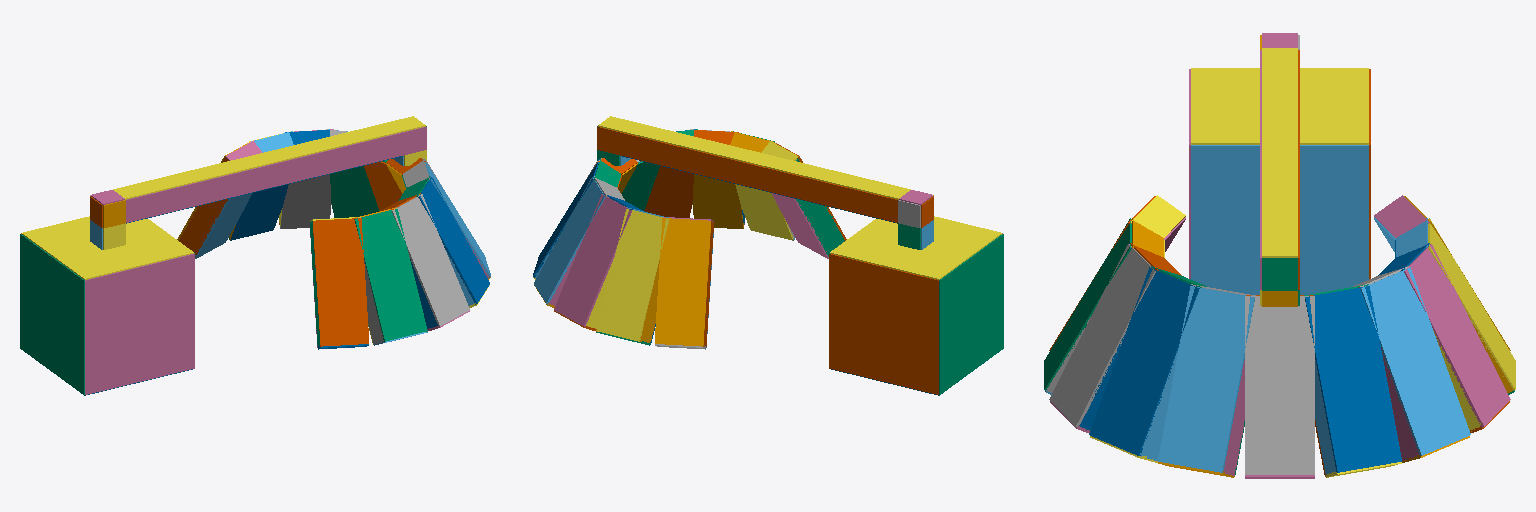
--- Render facts (derived) ---
Views: 3 orthographic renders of the robot side by side, from view 1: azimuth 30°, elevation 25°; view 2: azimuth 150°, elevation 25°; view 3: azimuth 270°, elevation 25°.
Model robot with 105 links and 104 joints (2 continuous, 102 fixed), rooted at body, posed all joints at 0.
Visible links, largest first — view 1: body_sensor_0_right, body_sensor_0_stop, arm_sensor_0_right, hand_part_11_sensor_0_left, hand_part_12_sensor_0_left, body_sensor_0_top, hand_part_13_sensor_0_left, arm_sensor_0_top, hand_part_14_sensor_0_left, hand_part_3_sensor_0_right, hand_part_2_sensor_0_right, hand_part_4_sensor_0_right (+6 smaller); view 2: body_sensor_0_left, body_sensor_0_stop, arm_sensor_0_left, hand_part_5_sensor_0_left, hand_part_4_sensor_0_left, body_sensor_0_top, hand_part_3_sensor_0_left, arm_sensor_0_top, hand_part_2_sensor_0_left, hand_part_13_sensor_0_right, hand_part_14_sensor_0_right, hand_part_12_sensor_0_right (+6 smaller); view 3: body_sensor_0_start, hand_part_0_sensor_0_left, hand_part_1_sensor_0_left, hand_part_15_sensor_0_left, body_sensor_0_top, hand_part_2_sensor_0_left, hand_part_14_sensor_0_left, arm_sensor_0_top, hand_part_3_sensor_0_left, hand_part_13_sensor_0_left, hand_part_4_sensor_0_left, hand_part_12_sensor_0_left (+13 smaller).
Boxes of the visible links, left/top/right/bottom form: body_sensor_0_right: left=85, top=254, right=194, bottom=394; body_sensor_0_stop: left=20, top=234, right=84, bottom=394; arm_sensor_0_right: left=126, top=127, right=426, bottom=222; hand_part_11_sensor_0_left: left=313, top=218, right=368, bottom=346; hand_part_12_sensor_0_left: left=354, top=209, right=427, bottom=341; body_sensor_0_top: left=22, top=216, right=193, bottom=279; hand_part_13_sensor_0_left: left=392, top=194, right=469, bottom=326; arm_sensor_0_top: left=113, top=116, right=425, bottom=199; hand_part_14_sensor_0_left: left=418, top=177, right=489, bottom=304; hand_part_3_sensor_0_right: left=280, top=174, right=331, bottom=228; hand_part_2_sensor_0_right: left=330, top=166, right=379, bottom=217; hand_part_4_sensor_0_right: left=231, top=184, right=288, bottom=240; body_sensor_0_left: left=829, top=254, right=938, bottom=394; body_sensor_0_stop: left=939, top=234, right=1003, bottom=394; arm_sensor_0_left: left=597, top=127, right=897, bottom=222; hand_part_5_sensor_0_left: left=655, top=218, right=710, bottom=346; hand_part_4_sensor_0_left: left=596, top=209, right=669, bottom=341; body_sensor_0_top: left=830, top=216, right=1001, bottom=279; hand_part_3_sensor_0_left: left=554, top=194, right=631, bottom=326; arm_sensor_0_top: left=598, top=116, right=910, bottom=199; hand_part_2_sensor_0_left: left=534, top=177, right=605, bottom=304; hand_part_13_sensor_0_right: left=692, top=174, right=743, bottom=228; hand_part_14_sensor_0_right: left=644, top=166, right=693, bottom=217; hand_part_12_sensor_0_right: left=735, top=184, right=793, bottom=240; body_sensor_0_start: left=1191, top=145, right=1368, bottom=294; hand_part_0_sensor_0_left: left=1245, top=296, right=1314, bottom=474; hand_part_1_sensor_0_left: left=1305, top=286, right=1401, bottom=472; hand_part_15_sensor_0_left: left=1158, top=286, right=1254, bottom=472; body_sensor_0_top: left=1191, top=68, right=1368, bottom=144; hand_part_2_sensor_0_left: left=1360, top=267, right=1470, bottom=455; hand_part_14_sensor_0_left: left=1089, top=267, right=1199, bottom=455; arm_sensor_0_top: left=1262, top=48, right=1297, bottom=257; hand_part_3_sensor_0_left: left=1404, top=244, right=1510, bottom=427; hand_part_13_sensor_0_left: left=1049, top=244, right=1155, bottom=426; hand_part_4_sensor_0_left: left=1428, top=218, right=1515, bottom=389; hand_part_12_sensor_0_left: left=1044, top=218, right=1131, bottom=389.
Bounding box of the posed robot: 3.8 × 2.63 × 1.42 m (x, y, z).
Geometry: primitives only (box / cylinder / sphere), no mesh files.

robot.urdf — robot:
<?xml version="1.0"?>
    <robot name="robot">


    <!-- body -->
    <link name="body">
        <inertial>
            <origin xyz="0 0 0" rpy="0 0 0"/>
            <mass value="100"/>
            <inertia ixx=".1" ixy=".1" ixz=".1" iyy=".1" iyz=".1" izz=".1"/>
        </inertial>
        <visual>
            <origin xyz="0 0 0" rpy="0 0 0"/>
            <geometry>
                <box size="1 1 1"/>
            </geometry>
        </visual>
        <collision>
            <origin xyz="0 0 0" rpy="0 0 0"/>
            <geometry>
                <box size="1 1 1"/>
            </geometry>
        </collision>
    </link>


    <!-- body_sensor_0_start -->
    <link name="body_sensor_0_start">
        <inertial>
            <origin xyz="0 0 0" rpy="0 0 0"/>
            <mass value="0"/>
            <inertia ixx=".1" ixy=".1" ixz=".1" iyy=".1" iyz=".1" izz=".1"/>
        </inertial>
        <visual>
            <origin xyz="0 0 0" rpy="0 0 0"/>
            <geometry>
                <box size="0.02 1 1"/>
            </geometry>
        </visual>
        <collision>
            <origin xyz="0 0 0" rpy="0 0 0"/>
            <geometry>
                <box size="0.02 1 1"/>
            </geometry>
        </collision>
    </link>
    <!-- Joint: body, body_sensor_0_start -->
    <joint name="body_body_sensor_0_start_joint" type="fixed">
        <parent link="body"/>
        <child link="body_sensor_0_start"/>
        <origin xyz="0.5 0 0"
                rpy="0 0 0"/>
        <axis xyz="0 0 1"/>
        
    </joint>


    <!-- body_sensor_0_stop -->
    <link name="body_sensor_0_stop">
        <inertial>
            <origin xyz="0 0 0" rpy="0 0 0"/>
            <mass value="0"/>
            <inertia ixx=".1" ixy=".1" ixz=".1" iyy=".1" iyz=".1" izz=".1"/>
        </inertial>
        <visual>
            <origin xyz="0 0 0" rpy="0 0 0"/>
            <geometry>
                <box size="0.02 1 1"/>
            </geometry>
        </visual>
        <collision>
            <origin xyz="0 0 0" rpy="0 0 0"/>
            <geometry>
                <box size="0.02 1 1"/>
            </geometry>
        </collision>
    </link>
    <!-- Joint: body, body_sensor_0_stop -->
    <joint name="body_body_sensor_0_stop_joint" type="fixed">
        <parent link="body"/>
        <child link="body_sensor_0_stop"/>
        <origin xyz="-0.5 0 0"
                rpy="0 0 0"/>
        <axis xyz="0 0 1"/>
        
    </joint>


    <!-- body_sensor_0_top -->
    <link name="body_sensor_0_top">
        <inertial>
            <origin xyz="0 0 0" rpy="0 0 0"/>
            <mass value="0"/>
            <inertia ixx=".1" ixy=".1" ixz=".1" iyy=".1" iyz=".1" izz=".1"/>
        </inertial>
        <visual>
            <origin xyz="0 0 0" rpy="0 0 0"/>
            <geometry>
                <box size="1.0 1 0.02"/>
            </geometry>
        </visual>
        <collision>
            <origin xyz="0 0 0" rpy="0 0 0"/>
            <geometry>
                <box size="1.0 1 0.02"/>
            </geometry>
        </collision>
    </link>
    <!-- Joint: body, body_sensor_0_top -->
    <joint name="body_body_sensor_0_top_joint" type="fixed">
        <parent link="body"/>
        <child link="body_sensor_0_top"/>
        <origin xyz="0 0 0.5"
                rpy="0 0 0"/>
        <axis xyz="0 0 1"/>
        
    </joint>


    <!-- body_sensor_0_bottom -->
    <link name="body_sensor_0_bottom">
        <inertial>
            <origin xyz="0 0 0" rpy="0 0 0"/>
            <mass value="0"/>
            <inertia ixx=".1" ixy=".1" ixz=".1" iyy=".1" iyz=".1" izz=".1"/>
        </inertial>
        <visual>
            <origin xyz="0 0 0" rpy="0 0 0"/>
            <geometry>
                <box size="1.0 1 0.02"/>
            </geometry>
        </visual>
        <collision>
            <origin xyz="0 0 0" rpy="0 0 0"/>
            <geometry>
                <box size="1.0 1 0.02"/>
            </geometry>
        </collision>
    </link>
    <!-- Joint: body, body_sensor_0_bottom -->
    <joint name="body_body_sensor_0_bottom_joint" type="fixed">
        <parent link="body"/>
        <child link="body_sensor_0_bottom"/>
        <origin xyz="0 0 -0.5"
                rpy="0 0 0"/>
        <axis xyz="0 0 1"/>
        
    </joint>


    <!-- body_sensor_0_left -->
    <link name="body_sensor_0_left">
        <inertial>
            <origin xyz="0 0 0" rpy="0 0 0"/>
            <mass value="0"/>
            <inertia ixx=".1" ixy=".1" ixz=".1" iyy=".1" iyz=".1" izz=".1"/>
        </inertial>
        <visual>
            <origin xyz="0 0 0" rpy="0 0 0"/>
            <geometry>
                <box size="1.0 0.02 1"/>
            </geometry>
        </visual>
        <collision>
            <origin xyz="0 0 0" rpy="0 0 0"/>
            <geometry>
                <box size="1.0 0.02 1"/>
            </geometry>
        </collision>
    </link>
    <!-- Joint: body, body_sensor_0_left -->
    <joint name="body_body_sensor_0_left_joint" type="fixed">
        <parent link="body"/>
        <child link="body_sensor_0_left"/>
        <origin xyz="0 0.5 0"
                rpy="0 0 0"/>
        <axis xyz="0 0 1"/>
        
    </joint>


    <!-- body_sensor_0_right -->
    <link name="body_sensor_0_right">
        <inertial>
            <origin xyz="0 0 0" rpy="0 0 0"/>
            <mass value="0"/>
            <inertia ixx=".1" ixy=".1" ixz=".1" iyy=".1" iyz=".1" izz=".1"/>
        </inertial>
        <visual>
            <origin xyz="0 0 0" rpy="0 0 0"/>
            <geometry>
                <box size="1.0 0.02 1"/>
            </geometry>
        </visual>
        <collision>
            <origin xyz="0 0 0" rpy="0 0 0"/>
            <geometry>
                <box size="1.0 0.02 1"/>
            </geometry>
        </collision>
    </link>
    <!-- Joint: body, body_sensor_0_right -->
    <joint name="body_body_sensor_0_right_joint" type="fixed">
        <parent link="body"/>
        <child link="body_sensor_0_right"/>
        <origin xyz="0 -0.5 0"
                rpy="0 0 0"/>
        <axis xyz="0 0 1"/>
        
    </joint>


    <!-- joint_1 -->
    <link name="joint_1">
        <inertial>
            <origin xyz="0 0 0" rpy="0 0 0"/>
            <mass value="2"/>
            <inertia ixx=".1" ixy=".1" ixz=".1" iyy=".1" iyz=".1" izz=".1"/>
        </inertial>
        <visual>
            <origin xyz="0 0 0" rpy="0 0 0"/>
            <geometry>
                <box size="0.2 0.2 0.2"/>
            </geometry>
        </visual>
        <collision>
            <origin xyz="0 0 0" rpy="0 0 0"/>
            <geometry>
                <box size="0.2 0.2 0.2"/>
            </geometry>
        </collision>
    </link>


    <!-- joint_1_sensor_0_start -->
    <link name="joint_1_sensor_0_start">
        <inertial>
            <origin xyz="0 0 0" rpy="0 0 0"/>
            <mass value="0"/>
            <inertia ixx=".1" ixy=".1" ixz=".1" iyy=".1" iyz=".1" izz=".1"/>
        </inertial>
        <visual>
            <origin xyz="0 0 0" rpy="0 0 0"/>
            <geometry>
                <box size="0.02 0.2 0.2"/>
            </geometry>
        </visual>
        <collision>
            <origin xyz="0 0 0" rpy="0 0 0"/>
            <geometry>
                <box size="0.02 0.2 0.2"/>
            </geometry>
        </collision>
    </link>
    <!-- Joint: joint_1, joint_1_sensor_0_start -->
    <joint name="joint_1_joint_1_sensor_0_start_joint" type="fixed">
        <parent link="joint_1"/>
        <child link="joint_1_sensor_0_start"/>
        <origin xyz="0.1 0 0"
                rpy="0 0 0"/>
        <axis xyz="0 0 1"/>
        
    </joint>


    <!-- joint_1_sensor_0_stop -->
    <link name="joint_1_sensor_0_stop">
        <inertial>
            <origin xyz="0 0 0" rpy="0 0 0"/>
            <mass value="0"/>
            <inertia ixx=".1" ixy=".1" ixz=".1" iyy=".1" iyz=".1" izz=".1"/>
        </inertial>
        <visual>
            <origin xyz="0 0 0" rpy="0 0 0"/>
            <geometry>
                <box size="0.02 0.2 0.2"/>
            </geometry>
        </visual>
        <collision>
            <origin xyz="0 0 0" rpy="0 0 0"/>
            <geometry>
                <box size="0.02 0.2 0.2"/>
            </geometry>
        </collision>
    </link>
    <!-- Joint: joint_1, joint_1_sensor_0_stop -->
    <joint name="joint_1_joint_1_sensor_0_stop_joint" type="fixed">
        <parent link="joint_1"/>
        <child link="joint_1_sensor_0_stop"/>
        <origin xyz="-0.1 0 0"
                rpy="0 0 0"/>
        <axis xyz="0 0 1"/>
        
    </joint>


    <!-- joint_1_sensor_0_left -->
    <link name="joint_1_sensor_0_left">
        <inertial>
            <origin xyz="0 0 0" rpy="0 0 0"/>
            <mass value="0"/>
            <inertia ixx=".1" ixy=".1" ixz=".1" iyy=".1" iyz=".1" izz=".1"/>
        </inertial>
        <visual>
            <origin xyz="0 0 0" rpy="0 0 0"/>
            <geometry>
                <box size="0.2 0.02 0.2"/>
            </geometry>
        </visual>
        <collision>
            <origin xyz="0 0 0" rpy="0 0 0"/>
            <geometry>
                <box size="0.2 0.02 0.2"/>
            </geometry>
        </collision>
    </link>
    <!-- Joint: joint_1, joint_1_sensor_0_left -->
    <joint name="joint_1_joint_1_sensor_0_left_joint" type="fixed">
        <parent link="joint_1"/>
        <child link="joint_1_sensor_0_left"/>
        <origin xyz="0 0.1 0"
                rpy="0 0 0"/>
        <axis xyz="0 0 1"/>
        
    </joint>


    <!-- joint_1_sensor_0_right -->
    <link name="joint_1_sensor_0_right">
        <inertial>
            <origin xyz="0 0 0" rpy="0 0 0"/>
            <mass value="0"/>
            <inertia ixx=".1" ixy=".1" ixz=".1" iyy=".1" iyz=".1" izz=".1"/>
        </inertial>
        <visual>
            <origin xyz="0 0 0" rpy="0 0 0"/>
            <geometry>
                <box size="0.2 0.02 0.2"/>
            </geometry>
        </visual>
        <collision>
            <origin xyz="0 0 0" rpy="0 0 0"/>
            <geometry>
                <box size="0.2 0.02 0.2"/>
            </geometry>
        </collision>
    </link>
    <!-- Joint: joint_1, joint_1_sensor_0_right -->
    <joint name="joint_1_joint_1_sensor_0_right_joint" type="fixed">
        <parent link="joint_1"/>
        <child link="joint_1_sensor_0_right"/>
        <origin xyz="0 -0.1 0"
                rpy="0 0 0"/>
        <axis xyz="0 0 1"/>
        
    </joint>
    <!-- Joint: body, joint_1 -->
    <joint name="body_joint_1_joint" type="continuous">
        <parent link="body"/>
        <child link="joint_1"/>
        <origin xyz="0 0 0.6"
                rpy="0 0 0"/>
        <axis xyz="0 0 1"/>
        <limit lower="0" upper="0" effort="0" velocity="0"/>
    </joint>


    <!-- joint_2 -->
    <link name="joint_2">
        <inertial>
            <origin xyz="0 0 0" rpy="0 0 0"/>
            <mass value="2"/>
            <inertia ixx=".1" ixy=".1" ixz=".1" iyy=".1" iyz=".1" izz=".1"/>
        </inertial>
        <visual>
            <origin xyz="0 0 0" rpy="0 0 0"/>
            <geometry>
                <box size="0.2 0.2 0.2"/>
            </geometry>
        </visual>
        <collision>
            <origin xyz="0 0 0" rpy="0 0 0"/>
            <geometry>
                <box size="0.2 0.2 0.2"/>
            </geometry>
        </collision>
    </link>


    <!-- joint_2_sensor_0_stop -->
    <link name="joint_2_sensor_0_stop">
        <inertial>
            <origin xyz="0 0 0" rpy="0 0 0"/>
            <mass value="0"/>
            <inertia ixx=".1" ixy=".1" ixz=".1" iyy=".1" iyz=".1" izz=".1"/>
        </inertial>
        <visual>
            <origin xyz="0 0 0" rpy="0 0 0"/>
            <geometry>
                <box size="0.02 0.2 0.2"/>
            </geometry>
        </visual>
        <collision>
            <origin xyz="0 0 0" rpy="0 0 0"/>
            <geometry>
                <box size="0.02 0.2 0.2"/>
            </geometry>
        </collision>
    </link>
    <!-- Joint: joint_2, joint_2_sensor_0_stop -->
    <joint name="joint_2_joint_2_sensor_0_stop_joint" type="fixed">
        <parent link="joint_2"/>
        <child link="joint_2_sensor_0_stop"/>
        <origin xyz="-0.1 0 0"
                rpy="0 0 0"/>
        <axis xyz="0 1 0"/>
        
    </joint>


    <!-- joint_2_sensor_0_top -->
    <link name="joint_2_sensor_0_top">
        <inertial>
            <origin xyz="0 0 0" rpy="0 0 0"/>
            <mass value="0"/>
            <inertia ixx=".1" ixy=".1" ixz=".1" iyy=".1" iyz=".1" izz=".1"/>
        </inertial>
        <visual>
            <origin xyz="0 0 0" rpy="0 0 0"/>
            <geometry>
                <box size="0.2 0.2 0.02"/>
            </geometry>
        </visual>
        <collision>
            <origin xyz="0 0 0" rpy="0 0 0"/>
            <geometry>
                <box size="0.2 0.2 0.02"/>
            </geometry>
        </collision>
    </link>
    <!-- Joint: joint_2, joint_2_sensor_0_top -->
    <joint name="joint_2_joint_2_sensor_0_top_joint" type="fixed">
        <parent link="joint_2"/>
        <child link="joint_2_sensor_0_top"/>
        <origin xyz="0 0 0.1"
                rpy="0 0 0"/>
        <axis xyz="0 1 0"/>
        
    </joint>


    <!-- joint_2_sensor_0_left -->
    <link name="joint_2_sensor_0_left">
        <inertial>
            <origin xyz="0 0 0" rpy="0 0 0"/>
            <mass value="0"/>
            <inertia ixx=".1" ixy=".1" ixz=".1" iyy=".1" iyz=".1" izz=".1"/>
        </inertial>
        <visual>
            <origin xyz="0 0 0" rpy="0 0 0"/>
            <geometry>
                <box size="0.2 0.02 0.2"/>
            </geometry>
        </visual>
        <collision>
            <origin xyz="0 0 0" rpy="0 0 0"/>
            <geometry>
                <box size="0.2 0.02 0.2"/>
            </geometry>
        </collision>
    </link>
    <!-- Joint: joint_2, joint_2_sensor_0_left -->
    <joint name="joint_2_joint_2_sensor_0_left_joint" type="fixed">
        <parent link="joint_2"/>
        <child link="joint_2_sensor_0_left"/>
        <origin xyz="0 0.1 0"
                rpy="0 0 0"/>
        <axis xyz="0 1 0"/>
        
    </joint>


    <!-- joint_2_sensor_0_right -->
    <link name="joint_2_sensor_0_right">
        <inertial>
            <origin xyz="0 0 0" rpy="0 0 0"/>
            <mass value="0"/>
            <inertia ixx=".1" ixy=".1" ixz=".1" iyy=".1" iyz=".1" izz=".1"/>
        </inertial>
        <visual>
            <origin xyz="0 0 0" rpy="0 0 0"/>
            <geometry>
                <box size="0.2 0.02 0.2"/>
            </geometry>
        </visual>
        <collision>
            <origin xyz="0 0 0" rpy="0 0 0"/>
            <geometry>
                <box size="0.2 0.02 0.2"/>
            </geometry>
        </collision>
    </link>
    <!-- Joint: joint_2, joint_2_sensor_0_right -->
    <joint name="joint_2_joint_2_sensor_0_right_joint" type="fixed">
        <parent link="joint_2"/>
        <child link="joint_2_sensor_0_right"/>
        <origin xyz="0 -0.1 0"
                rpy="0 0 0"/>
        <axis xyz="0 1 0"/>
        
    </joint>
    <!-- Joint: joint_1, joint_2 -->
    <joint name="joint_1_joint_2_joint" type="continuous">
        <parent link="joint_1"/>
        <child link="joint_2"/>
        <origin xyz="0 0 0.2"
                rpy="0 0 0"/>
        <axis xyz="0 1 0"/>
        <limit lower="0" upper="0" effort="0" velocity="0"/>
    </joint>


    <!-- arm -->
    <link name="arm">
        <inertial>
            <origin xyz="0 0 0" rpy="0 0 0"/>
            <mass value="2"/>
            <inertia ixx=".1" ixy=".1" ixz=".1" iyy=".1" iyz=".1" izz=".1"/>
        </inertial>
        <visual>
            <origin xyz="0 0 0" rpy="0 0 0"/>
            <geometry>
                <box size="2.75 0.2 0.2"/>
            </geometry>
        </visual>
        <collision>
            <origin xyz="0 0 0" rpy="0 0 0"/>
            <geometry>
                <box size="2.75 0.2 0.2"/>
            </geometry>
        </collision>
    </link>


    <!-- arm_sensor_0_start -->
    <link name="arm_sensor_0_start">
        <inertial>
            <origin xyz="0 0 0" rpy="0 0 0"/>
            <mass value="0"/>
            <inertia ixx=".1" ixy=".1" ixz=".1" iyy=".1" iyz=".1" izz=".1"/>
        </inertial>
        <visual>
            <origin xyz="0 0 0" rpy="0 0 0"/>
            <geometry>
                <box size="0.02 0.2 0.2"/>
            </geometry>
        </visual>
        <collision>
            <origin xyz="0 0 0" rpy="0 0 0"/>
            <geometry>
                <box size="0.02 0.2 0.2"/>
            </geometry>
        </collision>
    </link>
    <!-- Joint: arm, arm_sensor_0_start -->
    <joint name="arm_arm_sensor_0_start_joint" type="fixed">
        <parent link="arm"/>
        <child link="arm_sensor_0_start"/>
        <origin xyz="1.375 0 0"
                rpy="0 0 0"/>
        <axis xyz="0 1 0"/>
        
    </joint>


    <!-- arm_sensor_0_top -->
    <link name="arm_sensor_0_top">
        <inertial>
            <origin xyz="0 0 0" rpy="0 0 0"/>
            <mass value="0"/>
            <inertia ixx=".1" ixy=".1" ixz=".1" iyy=".1" iyz=".1" izz=".1"/>
        </inertial>
        <visual>
            <origin xyz="0 0 0" rpy="0 0 0"/>
            <geometry>
                <box size="2.75 0.2 0.02"/>
            </geometry>
        </visual>
        <collision>
            <origin xyz="0 0 0" rpy="0 0 0"/>
            <geometry>
                <box size="2.75 0.2 0.02"/>
            </geometry>
        </collision>
    </link>
    <!-- Joint: arm, arm_sensor_0_top -->
    <joint name="arm_arm_sensor_0_top_joint" type="fixed">
        <parent link="arm"/>
        <child link="arm_sensor_0_top"/>
        <origin xyz="0 0 0.1"
                rpy="0 0 0"/>
        <axis xyz="0 1 0"/>
        
    </joint>


    <!-- arm_sensor_0_bottom -->
    <link name="arm_sensor_0_bottom">
        <inertial>
            <origin xyz="0 0 0" rpy="0 0 0"/>
            <mass value="0"/>
            <inertia ixx=".1" ixy=".1" ixz=".1" iyy=".1" iyz=".1" izz=".1"/>
        </inertial>
        <visual>
            <origin xyz="0 0 0" rpy="0 0 0"/>
            <geometry>
                <box size="2.75 0.2 0.02"/>
            </geometry>
        </visual>
        <collision>
            <origin xyz="0 0 0" rpy="0 0 0"/>
            <geometry>
                <box size="2.75 0.2 0.02"/>
            </geometry>
        </collision>
    </link>
    <!-- Joint: arm, arm_sensor_0_bottom -->
    <joint name="arm_arm_sensor_0_bottom_joint" type="fixed">
        <parent link="arm"/>
        <child link="arm_sensor_0_bottom"/>
        <origin xyz="0 0 -0.1"
                rpy="0 0 0"/>
        <axis xyz="0 1 0"/>
        
    </joint>


    <!-- arm_sensor_0_left -->
    <link name="arm_sensor_0_left">
        <inertial>
            <origin xyz="0 0 0" rpy="0 0 0"/>
            <mass value="0"/>
            <inertia ixx=".1" ixy=".1" ixz=".1" iyy=".1" iyz=".1" izz=".1"/>
        </inertial>
        <visual>
            <origin xyz="0 0 0" rpy="0 0 0"/>
            <geometry>
                <box size="2.75 0.02 0.2"/>
            </geometry>
        </visual>
        <collision>
            <origin xyz="0 0 0" rpy="0 0 0"/>
            <geometry>
                <box size="2.75 0.02 0.2"/>
            </geometry>
        </collision>
    </link>
    <!-- Joint: arm, arm_sensor_0_left -->
    <joint name="arm_arm_sensor_0_left_joint" type="fixed">
        <parent link="arm"/>
        <child link="arm_sensor_0_left"/>
        <origin xyz="0 0.1 0"
                rpy="0 0 0"/>
        <axis xyz="0 1 0"/>
        
    </joint>


    <!-- arm_sensor_0_right -->
    <link name="arm_sensor_0_right">
        <inertial>
            <origin xyz="0 0 0" rpy="0 0 0"/>
            <mass value="0"/>
            <inertia ixx=".1" ixy=".1" ixz=".1" iyy=".1" iyz=".1" izz=".1"/>
        </inertial>
        <visual>
            <origin xyz="0 0 0" rpy="0 0 0"/>
            <geometry>
                <box size="2.75 0.02 0.2"/>
            </geometry>
        </visual>
        <collision>
            <origin xyz="0 0 0" rpy="0 0 0"/>
            <geometry>
                <box size="2.75 0.02 0.2"/>
            </geometry>
        </collision>
    </link>
    <!-- Joint: arm, arm_sensor_0_right -->
    <joint name="arm_arm_sensor_0_right_joint" type="fixed">
        <parent link="arm"/>
        <child link="arm_sensor_0_right"/>
        <origin xyz="0 -0.1 0"
                rpy="0 0 0"/>
        <axis xyz="0 1 0"/>
        
    </joint>
    <!-- Joint: joint_2, arm -->
    <joint name="joint_2_arm_joint" type="fixed">
        <parent link="joint_2"/>
        <child link="arm"/>
        <origin xyz="1.475 0 0"
                rpy="0 0 0"/>
        <axis xyz="0 1 0"/>
        
    </joint>


    <!-- wrist -->
    <link name="wrist">
        <inertial>
            <origin xyz="0 0 0" rpy="0 0 0"/>
            <mass value="2"/>
            <inertia ixx=".1" ixy=".1" ixz=".1" iyy=".1" iyz=".1" izz=".1"/>
        </inertial>
        <visual>
            <origin xyz="0 0 0" rpy="0 0 0"/>
            <geometry>
                <box size="0.2 0.2 0.1"/>
            </geometry>
        </visual>
        <collision>
            <origin xyz="0 0 0" rpy="0 0 0"/>
            <geometry>
                <box size="0.2 0.2 0.1"/>
            </geometry>
        </collision>
    </link>


    <!-- wrist_sensor_0_start -->
    <link name="wrist_sensor_0_start">
        <inertial>
            <origin xyz="0 0 0" rpy="0 0 0"/>
            <mass value="0"/>
            <inertia ixx=".1" ixy=".1" ixz=".1" iyy=".1" iyz=".1" izz=".1"/>
        </inertial>
        <visual>
            <origin xyz="0 0 0" rpy="0 0 0"/>
            <geometry>
                <box size="0.02 0.2 0.1"/>
            </geometry>
        </visual>
        <collision>
            <origin xyz="0 0 0" rpy="0 0 0"/>
            <geometry>
                <box size="0.02 0.2 0.1"/>
            </geometry>
        </collision>
    </link>
    <!-- Joint: wrist, wrist_sensor_0_start -->
    <joint name="wrist_wrist_sensor_0_start_joint" type="fixed">
        <parent link="wrist"/>
        <child link="wrist_sensor_0_start"/>
        <origin xyz="0.1 0 0"
                rpy="0 0 0"/>
        <axis xyz="0 1 0"/>
        
    </joint>


    <!-- wrist_sensor_0_stop -->
    <link name="wrist_sensor_0_stop">
        <inertial>
            <origin xyz="0 0 0" rpy="0 0 0"/>
            <mass value="0"/>
            <inertia ixx=".1" ixy=".1" ixz=".1" iyy=".1" iyz=".1" izz=".1"/>
        </inertial>
        <visual>
            <origin xyz="0 0 0" rpy="0 0 0"/>
            <geometry>
                <box size="0.02 0.2 0.1"/>
            </geometry>
        </visual>
        <collision>
            <origin xyz="0 0 0" rpy="0 0 0"/>
            <geometry>
                <box size="0.02 0.2 0.1"/>
            </geometry>
        </collision>
    </link>
    <!-- Joint: wrist, wrist_sensor_0_stop -->
    <joint name="wrist_wrist_sensor_0_stop_joint" type="fixed">
        <parent link="wrist"/>
        <child link="wrist_sensor_0_stop"/>
        <origin xyz="-0.1 0 0"
                rpy="0 0 0"/>
        <axis xyz="0 1 0"/>
        
    </joint>


    <!-- wrist_sensor_0_left -->
    <link name="wrist_sensor_0_left">
        <inertial>
            <origin xyz="0 0 0" rpy="0 0 0"/>
            <mass value="0"/>
            <inertia ixx=".1" ixy=".1" ixz=".1" iyy=".1" iyz=".1" izz=".1"/>
        </inertial>
        <visual>
            <origin xyz="0 0 0" rpy="0 0 0"/>
            <geometry>
                <box size="0.2 0.02 0.1"/>
            </geometry>
        </visual>
        <collision>
            <origin xyz="0 0 0" rpy="0 0 0"/>
            <geometry>
                <box size="0.2 0.02 0.1"/>
            </geometry>
        </collision>
    </link>
    <!-- Joint: wrist, wrist_sensor_0_left -->
    <joint name="wrist_wrist_sensor_0_left_joint" type="fixed">
        <parent link="wrist"/>
        <child link="wrist_sensor_0_left"/>
        <origin xyz="0 0.1 0"
                rpy="0 0 0"/>
        <axis xyz="0 1 0"/>
        
    </joint>


    <!-- wrist_sensor_0_right -->
    <link name="wrist_sensor_0_right">
        <inertial>
            <origin xyz="0 0 0" rpy="0 0 0"/>
            <mass value="0"/>
            <inertia ixx=".1" ixy=".1" ixz=".1" iyy=".1" iyz=".1" izz=".1"/>
        </inertial>
        <visual>
            <origin xyz="0 0 0" rpy="0 0 0"/>
            <geometry>
                <box size="0.2 0.02 0.1"/>
            </geometry>
        </visual>
        <collision>
            <origin xyz="0 0 0" rpy="0 0 0"/>
            <geometry>
                <box size="0.2 0.02 0.1"/>
            </geometry>
        </collision>
    </link>
    <!-- Joint: wrist, wrist_sensor_0_right -->
    <joint name="wrist_wrist_sensor_0_right_joint" type="fixed">
        <parent link="wrist"/>
        <child link="wrist_sensor_0_right"/>
        <origin xyz="0 -0.1 0"
                rpy="0 0 0"/>
        <axis xyz="0 1 0"/>
        
    </joint>
    <!-- Joint: arm, wrist -->
    <joint name="arm_wrist_joint" type="fixed">
        <parent link="arm"/>
        <child link="wrist"/>
        <origin xyz="1.275 0 -0.15000000000000002"
                rpy="0 0 0"/>
        <axis xyz="0 1 0"/>
        
    </joint>


    <!-- hand_part_0 -->
    <link name="hand_part_0">
        <inertial>
            <origin xyz="0 0 0" rpy="0 0 0"/>
            <mass value="2"/>
            <inertia ixx=".1" ixy=".1" ixz=".1" iyy=".1" iyz=".1" izz=".1"/>
        </inertial>
        <visual>
            <origin xyz="0 0 0" rpy="0 0 0"/>
            <geometry>
                <box size="0.3901806440322565 0.2 1"/>
            </geometry>
        </visual>
        <collision>
            <origin xyz="0 0 0" rpy="0 0 0"/>
            <geometry>
                <box size="0.3901806440322565 0.2 1"/>
            </geometry>
        </collision>
    </link>


    <!-- hand_part_0_sensor_0_top -->
    <link name="hand_part_0_sensor_0_top">
        <inertial>
            <origin xyz="0 0 0" rpy="0 0 0"/>
            <mass value="0"/>
            <inertia ixx=".1" ixy=".1" ixz=".1" iyy=".1" iyz=".1" izz=".1"/>
        </inertial>
        <visual>
            <origin xyz="0 0 0" rpy="0 0 0"/>
            <geometry>
                <box size="0.3901806440322565 0.2 0.02"/>
            </geometry>
        </visual>
        <collision>
            <origin xyz="0 0 0" rpy="0 0 0"/>
            <geometry>
                <box size="0.3901806440322565 0.2 0.02"/>
            </geometry>
        </collision>
    </link>
    <!-- Joint: hand_part_0, hand_part_0_sensor_0_top -->
    <joint name="hand_part_0_hand_part_0_sensor_0_top_joint" type="fixed">
        <parent link="hand_part_0"/>
        <child link="hand_part_0_sensor_0_top"/>
        <origin xyz="0 0 0.5"
                rpy="0 0 0"/>
        <axis xyz="0 1 0"/>
        
    </joint>


    <!-- hand_part_0_sensor_0_bottom -->
    <link name="hand_part_0_sensor_0_bottom">
        <inertial>
            <origin xyz="0 0 0" rpy="0 0 0"/>
            <mass value="0"/>
            <inertia ixx=".1" ixy=".1" ixz=".1" iyy=".1" iyz=".1" izz=".1"/>
        </inertial>
        <visual>
            <origin xyz="0 0 0" rpy="0 0 0"/>
            <geometry>
                <box size="0.3901806440322565 0.2 0.02"/>
            </geometry>
        </visual>
        <collision>
            <origin xyz="0 0 0" rpy="0 0 0"/>
            <geometry>
                <box size="0.3901806440322565 0.2 0.02"/>
            </geometry>
        </collision>
    </link>
    <!-- Joint: hand_part_0, hand_part_0_sensor_0_bottom -->
    <joint name="hand_part_0_hand_part_0_sensor_0_bottom_joint" type="fixed">
        <parent link="hand_part_0"/>
        <child link="hand_part_0_sensor_0_bottom"/>
        <origin xyz="0 0 -0.5"
                rpy="0 0 0"/>
        <axis xyz="0 1 0"/>
        
    </joint>


    <!-- hand_part_0_sensor_0_left -->
    <link name="hand_part_0_sensor_0_left">
        <inertial>
            <origin xyz="0 0 0" rpy="0 0 0"/>
            <mass value="0"/>
            <inertia ixx=".1" ixy=".1" ixz=".1" iyy=".1" iyz=".1" izz=".1"/>
        </inertial>
        <visual>
            <origin xyz="0 0 0" rpy="0 0 0"/>
            <geometry>
                <box size="0.3901806440322565 0.02 1"/>
            </geometry>
        </visual>
        <collision>
            <origin xyz="0 0 0" rpy="0 0 0"/>
            <geometry>
                <box size="0.3901806440322565 0.02 1"/>
            </geometry>
        </collision>
    </link>
    <!-- Joint: hand_part_0, hand_part_0_sensor_0_left -->
    <joint name="hand_part_0_hand_part_0_sensor_0_left_joint" type="fixed">
        <parent link="hand_part_0"/>
        <child link="hand_part_0_sensor_0_left"/>
        <origin xyz="0 0.1 0"
                rpy="0 0 0"/>
        <axis xyz="0 1 0"/>
        
    </joint>


    <!-- hand_part_0_sensor_0_right -->
    <link name="hand_part_0_sensor_0_right">
        <inertial>
            <origin xyz="0 0 0" rpy="0 0 0"/>
            <mass value="0"/>
            <inertia ixx=".1" ixy=".1" ixz=".1" iyy=".1" iyz=".1" izz=".1"/>
        </inertial>
        <visual>
            <origin xyz="0 0 0" rpy="0 0 0"/>
            <geometry>
                <box size="0.3901806440322565 0.02 1"/>
            </geometry>
        </visual>
        <collision>
            <origin xyz="0 0 0" rpy="0 0 0"/>
            <geometry>
                <box size="0.3901806440322565 0.02 1"/>
            </geometry>
        </collision>
    </link>
    <!-- Joint: hand_part_0, hand_part_0_sensor_0_right -->
    <joint name="hand_part_0_hand_part_0_sensor_0_right_joint" type="fixed">
        <parent link="hand_part_0"/>
        <child link="hand_part_0_sensor_0_right"/>
        <origin xyz="0 -0.1 0"
                rpy="0 0 0"/>
        <axis xyz="0 1 0"/>
        
    </joint>
    <!-- Joint: wrist, hand_part_0 -->
    <joint name="wrist_hand_part_0_joint" type="fixed">
        <parent link="wrist"/>
        <child link="hand_part_0"/>
        <origin xyz="0.2 0.0 -0.5"
                rpy="0.5 0 -1.5707963267948966"/>
        <axis xyz="0 1 0"/>
        
    </joint>


    <!-- hand_part_1 -->
    <link name="hand_part_1">
        <inertial>
            <origin xyz="0 0 0" rpy="0 0 0"/>
            <mass value="2"/>
            <inertia ixx=".1" ixy=".1" ixz=".1" iyy=".1" iyz=".1" izz=".1"/>
        </inertial>
        <visual>
            <origin xyz="0 0 0" rpy="0 0 0"/>
            <geometry>
                <box size="0.3901806440322565 0.2 1"/>
            </geometry>
        </visual>
        <collision>
            <origin xyz="0 0 0" rpy="0 0 0"/>
            <geometry>
                <box size="0.3901806440322565 0.2 1"/>
            </geometry>
        </collision>
    </link>


    <!-- hand_part_1_sensor_0_top -->
    <link name="hand_part_1_sensor_0_top">
        <inertial>
            <origin xyz="0 0 0" rpy="0 0 0"/>
            <mass value="0"/>
            <inertia ixx=".1" ixy=".1" ixz=".1" iyy=".1" iyz=".1" izz=".1"/>
        </inertial>
        <visual>
            <origin xyz="0 0 0" rpy="0 0 0"/>
            <geometry>
                <box size="0.3901806440322565 0.2 0.02"/>
            </geometry>
        </visual>
        <collision>
            <origin xyz="0 0 0" rpy="0 0 0"/>
            <geometry>
                <box size="0.3901806440322565 0.2 0.02"/>
            </geometry>
        </collision>
    </link>
    <!-- Joint: hand_part_1, hand_part_1_sensor_0_top -->
    <joint name="hand_part_1_hand_part_1_sensor_0_top_joint" type="fixed">
        <parent link="hand_part_1"/>
        <child link="hand_part_1_sensor_0_top"/>
        <origin xyz="0 0 0.5"
                rpy="0 0 0"/>
        <axis xyz="0 1 0"/>
        
    </joint>


    <!-- hand_part_1_sensor_0_bottom -->
    <link name="hand_part_1_sensor_0_bottom">
        <inertial>
            <origin xyz="0 0 0" rpy="0 0 0"/>
            <mass value="0"/>
            <inertia ixx=".1" ixy=".1" ixz=".1" iyy=".1" iyz=".1" izz=".1"/>
        </inertial>
        <visual>
            <origin xyz="0 0 0" rpy="0 0 0"/>
            <geometry>
                <box size="0.3901806440322565 0.2 0.02"/>
            </geometry>
        </visual>
        <collision>
            <origin xyz="0 0 0" rpy="0 0 0"/>
            <geometry>
                <box size="0.3901806440322565 0.2 0.02"/>
            </geometry>
        </collision>
    </link>
    <!-- Joint: hand_part_1, hand_part_1_sensor_0_bottom -->
    <joint name="hand_part_1_hand_part_1_sensor_0_bottom_joint" type="fixed">
        <parent link="hand_part_1"/>
        <child link="hand_part_1_sensor_0_bottom"/>
        <origin xyz="0 0 -0.5"
                rpy="0 0 0"/>
        <axis xyz="0 1 0"/>
        
    </joint>


    <!-- hand_part_1_sensor_0_left -->
    <link name="hand_part_1_sensor_0_left">
        <inertial>
            <origin xyz="0 0 0" rpy="0 0 0"/>
            <mass value="0"/>
            <inertia ixx=".1" ixy=".1" ixz=".1" iyy=".1" iyz=".1" izz=".1"/>
        </inertial>
        <visual>
            <origin xyz="0 0 0" rpy="0 0 0"/>
            <geometry>
                <box size="0.3901806440322565 0.02 1"/>
            </geometry>
        </visual>
        <collision>
            <origin xyz="0 0 0" rpy="0 0 0"/>
            <geometry>
                <box size="0.3901806440322565 0.02 1"/>
            </geometry>
        </collision>
    </link>
    <!-- Joint: hand_part_1, hand_part_1_sensor_0_left -->
    <joint name="hand_part_1_hand_part_1_sensor_0_left_joint" type="fixed">
        <parent link="hand_part_1"/>
        <child link="hand_part_1_sensor_0_left"/>
        <origin xyz="0 0.1 0"
                rpy="0 0 0"/>
        <axis xyz="0 1 0"/>
        
    </joint>


    <!-- hand_part_1_sensor_0_right -->
    <link name="hand_part_1_sensor_0_right">
        <inertial>
            <origin xyz="0 0 0" rpy="0 0 0"/>
            <mass value="0"/>
            <inertia ixx=".1" ixy=".1" ixz=".1" iyy=".1" iyz=".1" izz=".1"/>
        </inertial>
        <visual>
            <origin xyz="0 0 0" rpy="0 0 0"/>
            <geometry>
                <box size="0.3901806440322565 0.02 1"/>
            </geometry>
        </visual>
        <collision>
            <origin xyz="0 0 0" rpy="0 0 0"/>
            <geometry>
                <box size="0.3901806440322565 0.02 1"/>
            </geometry>
        </collision>
    </link>
    <!-- Joint: hand_part_1, hand_part_1_sensor_0_right -->
    <joint name="hand_part_1_hand_part_1_sensor_0_right_joint" type="fixed">
        <parent link="hand_part_1"/>
        <child link="hand_part_1_sensor_0_right"/>
        <origin xyz="0 -0.1 0"
                rpy="0 0 0"/>
        <axis xyz="0 1 0"/>
        
    </joint>
    <!-- Joint: wrist, hand_part_1 -->
    <joint name="wrist_hand_part_1_joint" type="fixed">
        <parent link="wrist"/>
        <child link="hand_part_1"/>
        <origin xyz="0.1253421659496574 0.3753302775178652 -0.5"
                rpy="0.5 0 -1.1780972450961724"/>
        <axis xyz="0 1 0"/>
        
    </joint>


    <!-- hand_part_2 -->
    <link name="hand_part_2">
        <inertial>
            <origin xyz="0 0 0" rpy="0 0 0"/>
            <mass value="2"/>
            <inertia ixx=".1" ixy=".1" ixz=".1" iyy=".1" iyz=".1" izz=".1"/>
        </inertial>
        <visual>
            <origin xyz="0 0 0" rpy="0 0 0"/>
            <geometry>
                <box size="0.3901806440322565 0.2 1"/>
            </geometry>
        </visual>
        <collision>
            <origin xyz="0 0 0" rpy="0 0 0"/>
            <geometry>
                <box size="0.3901806440322565 0.2 1"/>
            </geometry>
        </collision>
    </link>


    <!-- hand_part_2_sensor_0_top -->
    <link name="hand_part_2_sensor_0_top">
        <inertial>
            <origin xyz="0 0 0" rpy="0 0 0"/>
            <mass value="0"/>
            <inertia ixx=".1" ixy=".1" ixz=".1" iyy=".1" iyz=".1" izz=".1"/>
        </inertial>
        <visual>
            <origin xyz="0 0 0" rpy="0 0 0"/>
            <geometry>
                <box size="0.3901806440322565 0.2 0.02"/>
            </geometry>
        </visual>
        <collision>
            <origin xyz="0 0 0" rpy="0 0 0"/>
            <geometry>
                <box size="0.3901806440322565 0.2 0.02"/>
            </geometry>
        </collision>
    </link>
    <!-- Joint: hand_part_2, hand_part_2_sensor_0_top -->
    <joint name="hand_part_2_hand_part_2_sensor_0_top_joint" type="fixed">
        <parent link="hand_part_2"/>
        <child link="hand_part_2_sensor_0_top"/>
        <origin xyz="0 0 0.5"
                rpy="0 0 0"/>
        <axis xyz="0 1 0"/>
        
    </joint>


    <!-- hand_part_2_sensor_0_bottom -->
    <link name="hand_part_2_sensor_0_bottom">
        <inertial>
            <origin xyz="0 0 0" rpy="0 0 0"/>
            <mass value="0"/>
            <inertia ixx=".1" ixy=".1" ixz=".1" iyy=".1" iyz=".1" izz=".1"/>
        </inertial>
        <visual>
            <origin xyz="0 0 0" rpy="0 0 0"/>
            <geometry>
                <box size="0.3901806440322565 0.2 0.02"/>
            </geometry>
        </visual>
        <collision>
            <origin xyz="0 0 0" rpy="0 0 0"/>
            <geometry>
                <box size="0.3901806440322565 0.2 0.02"/>
            </geometry>
        </collision>
    </link>
    <!-- Joint: hand_part_2, hand_part_2_sensor_0_bottom -->
    <joint name="hand_part_2_hand_part_2_sensor_0_bottom_joint" type="fixed">
        <parent link="hand_part_2"/>
        <child link="hand_part_2_sensor_0_bottom"/>
        <origin xyz="0 0 -0.5"
                rpy="0 0 0"/>
        <axis xyz="0 1 0"/>
        
    </joint>


    <!-- hand_part_2_sensor_0_left -->
    <link name="hand_part_2_sensor_0_left">
        <inertial>
            <origin xyz="0 0 0" rpy="0 0 0"/>
            <mass value="0"/>
            <inertia ixx=".1" ixy=".1" ixz=".1" iyy=".1" iyz=".1" izz=".1"/>
        </inertial>
        <visual>
            <origin xyz="0 0 0" rpy="0 0 0"/>
            <geometry>
                <box size="0.3901806440322565 0.02 1"/>
            </geometry>
        </visual>
        <collision>
            <origin xyz="0 0 0" rpy="0 0 0"/>
            <geometry>
                <box size="0.3901806440322565 0.02 1"/>
            </geometry>
        </collision>
    </link>
    <!-- Joint: hand_part_2, hand_part_2_sensor_0_left -->
    <joint name="hand_part_2_hand_part_2_sensor_0_left_joint" type="fixed">
        <parent link="hand_part_2"/>
        <child link="hand_part_2_sensor_0_left"/>
        <origin xyz="0 0.1 0"
                rpy="0 0 0"/>
        <axis xyz="0 1 0"/>
        
    </joint>


    <!-- hand_part_2_sensor_0_right -->
    <link name="hand_part_2_sensor_0_right">
        <inertial>
            <origin xyz="0 0 0" rpy="0 0 0"/>
            <mass value="0"/>
            <inertia ixx=".1" ixy=".1" ixz=".1" iyy=".1" iyz=".1" izz=".1"/>
        </inertial>
        <visual>
            <origin xyz="0 0 0" rpy="0 0 0"/>
            <geometry>
                <box size="0.3901806440322565 0.02 1"/>
            </geometry>
        </visual>
        <collision>
            <origin xyz="0 0 0" rpy="0 0 0"/>
            <geometry>
                <box size="0.3901806440322565 0.02 1"/>
            </geometry>
        </collision>
    </link>
    <!-- Joint: hand_part_2, hand_part_2_sensor_0_right -->
    <joint name="hand_part_2_hand_part_2_sensor_0_right_joint" type="fixed">
        <parent link="hand_part_2"/>
        <child link="hand_part_2_sensor_0_right"/>
        <origin xyz="0 -0.1 0"
                rpy="0 0 0"/>
        <axis xyz="0 1 0"/>
        
    </joint>
    <!-- Joint: wrist, hand_part_2 -->
    <joint name="wrist_hand_part_2_joint" type="fixed">
        <parent link="wrist"/>
        <child link="hand_part_2"/>
        <origin xyz="-0.0872653577421566 0.6935199226610735 -0.5"
                rpy="0.5 0 -0.7853981633974483"/>
        <axis xyz="0 1 0"/>
        
    </joint>


    <!-- hand_part_3 -->
    <link name="hand_part_3">
        <inertial>
            <origin xyz="0 0 0" rpy="0 0 0"/>
            <mass value="2"/>
            <inertia ixx=".1" ixy=".1" ixz=".1" iyy=".1" iyz=".1" izz=".1"/>
        </inertial>
        <visual>
            <origin xyz="0 0 0" rpy="0 0 0"/>
            <geometry>
                <box size="0.3901806440322565 0.2 1"/>
            </geometry>
        </visual>
        <collision>
            <origin xyz="0 0 0" rpy="0 0 0"/>
            <geometry>
                <box size="0.3901806440322565 0.2 1"/>
            </geometry>
        </collision>
    </link>


    <!-- hand_part_3_sensor_0_top -->
    <link name="hand_part_3_sensor_0_top">
        <inertial>
            <origin xyz="0 0 0" rpy="0 0 0"/>
            <mass value="0"/>
            <inertia ixx=".1" ixy=".1" ixz=".1" iyy=".1" iyz=".1" izz=".1"/>
        </inertial>
        <visual>
            <origin xyz="0 0 0" rpy="0 0 0"/>
            <geometry>
                <box size="0.3901806440322565 0.2 0.02"/>
            </geometry>
        </visual>
        <collision>
            <origin xyz="0 0 0" rpy="0 0 0"/>
            <geometry>
                <box size="0.3901806440322565 0.2 0.02"/>
            </geometry>
        </collision>
    </link>
    <!-- Joint: hand_part_3, hand_part_3_sensor_0_top -->
    <joint name="hand_part_3_hand_part_3_sensor_0_top_joint" type="fixed">
        <parent link="hand_part_3"/>
        <child link="hand_part_3_sensor_0_top"/>
        <origin xyz="0 0 0.5"
                rpy="0 0 0"/>
        <axis xyz="0 1 0"/>
        
    </joint>


    <!-- hand_part_3_sensor_0_bottom -->
    <link name="hand_part_3_sensor_0_bottom">
        <inertial>
            <origin xyz="0 0 0" rpy="0 0 0"/>
            <mass value="0"/>
            <inertia ixx=".1" ixy=".1" ixz=".1" iyy=".1" iyz=".1" izz=".1"/>
        </inertial>
        <visual>
            <origin xyz="0 0 0" rpy="0 0 0"/>
            <geometry>
                <box size="0.3901806440322565 0.2 0.02"/>
            </geometry>
        </visual>
        <collision>
            <origin xyz="0 0 0" rpy="0 0 0"/>
            <geometry>
                <box size="0.3901806440322565 0.2 0.02"/>
            </geometry>
        </collision>
    </link>
    <!-- Joint: hand_part_3, hand_part_3_sensor_0_bottom -->
    <joint name="hand_part_3_hand_part_3_sensor_0_bottom_joint" type="fixed">
        <parent link="hand_part_3"/>
        <child link="hand_part_3_sensor_0_bottom"/>
        <origin xyz="0 0 -0.5"
                rpy="0 0 0"/>
        <axis xyz="0 1 0"/>
        
    </joint>


    <!-- hand_part_3_sensor_0_left -->
    <link name="hand_part_3_sensor_0_left">
        <inertial>
            <origin xyz="0 0 0" rpy="0 0 0"/>
            <mass value="0"/>
            <inertia ixx=".1" ixy=".1" ixz=".1" iyy=".1" iyz=".1" izz=".1"/>
        </inertial>
        <visual>
            <origin xyz="0 0 0" rpy="0 0 0"/>
            <geometry>
                <box size="0.3901806440322565 0.02 1"/>
            </geometry>
        </visual>
        <collision>
            <origin xyz="0 0 0" rpy="0 0 0"/>
            <geometry>
                <box size="0.3901806440322565 0.02 1"/>
            </geometry>
        </collision>
    </link>
    <!-- Joint: hand_part_3, hand_part_3_sensor_0_left -->
    <joint name="hand_part_3_hand_part_3_sensor_0_left_joint" type="fixed">
        <parent link="hand_part_3"/>
        <child link="hand_part_3_sensor_0_left"/>
        <origin xyz="0 0.1 0"
                rpy="0 0 0"/>
        <axis xyz="0 1 0"/>
        
    </joint>


    <!-- hand_part_3_sensor_0_right -->
    <link name="hand_part_3_sensor_0_right">
        <inertial>
            <origin xyz="0 0 0" rpy="0 0 0"/>
            <mass value="0"/>
            <inertia ixx=".1" ixy=".1" ixz=".1" iyy=".1" iyz=".1" izz=".1"/>
        </inertial>
        <visual>
            <origin xyz="0 0 0" rpy="0 0 0"/>
            <geometry>
                <box size="0.3901806440322565 0.02 1"/>
            </geometry>
        </visual>
        <collision>
            <origin xyz="0 0 0" rpy="0 0 0"/>
            <geometry>
                <box size="0.3901806440322565 0.02 1"/>
            </geometry>
        </collision>
    </link>
    <!-- Joint: hand_part_3, hand_part_3_sensor_0_right -->
    <joint name="hand_part_3_hand_part_3_sensor_0_right_joint" type="fixed">
        <parent link="hand_part_3"/>
        <child link="hand_part_3_sensor_0_right"/>
        <origin xyz="0 -0.1 0"
                rpy="0 0 0"/>
        <axis xyz="0 1 0"/>
        
    </joint>
    <!-- Joint: wrist, hand_part_3 -->
    <joint name="wrist_hand_part_3_joint" type="fixed">
        <parent link="wrist"/>
        <child link="hand_part_3"/>
        <origin xyz="-0.405455002885365 0.9061274463528877 -0.5"
                rpy="0.5 0 -0.39269908169872414"/>
        <axis xyz="0 1 0"/>
        
    </joint>


    <!-- hand_part_4 -->
    <link name="hand_part_4">
        <inertial>
            <origin xyz="0 0 0" rpy="0 0 0"/>
            <mass value="2"/>
            <inertia ixx=".1" ixy=".1" ixz=".1" iyy=".1" iyz=".1" izz=".1"/>
        </inertial>
        <visual>
            <origin xyz="0 0 0" rpy="0 0 0"/>
            <geometry>
                <box size="0.3901806440322565 0.2 1"/>
            </geometry>
        </visual>
        <collision>
            <origin xyz="0 0 0" rpy="0 0 0"/>
            <geometry>
                <box size="0.3901806440322565 0.2 1"/>
            </geometry>
        </collision>
    </link>


    <!-- hand_part_4_sensor_0_top -->
    <link name="hand_part_4_sensor_0_top">
        <inertial>
            <origin xyz="0 0 0" rpy="0 0 0"/>
            <mass value="0"/>
            <inertia ixx=".1" ixy=".1" ixz=".1" iyy=".1" iyz=".1" izz=".1"/>
        </inertial>
        <visual>
            <origin xyz="0 0 0" rpy="0 0 0"/>
            <geometry>
                <box size="0.3901806440322565 0.2 0.02"/>
            </geometry>
        </visual>
        <collision>
            <origin xyz="0 0 0" rpy="0 0 0"/>
            <geometry>
                <box size="0.3901806440322565 0.2 0.02"/>
            </geometry>
        </collision>
    </link>
    <!-- Joint: hand_part_4, hand_part_4_sensor_0_top -->
    <joint name="hand_part_4_hand_part_4_sensor_0_top_joint" type="fixed">
        <parent link="hand_part_4"/>
        <child link="hand_part_4_sensor_0_top"/>
        <origin xyz="0 0 0.5"
                rpy="0 0 0"/>
        <axis xyz="0 1 0"/>
        
    </joint>


    <!-- hand_part_4_sensor_0_bottom -->
    <link name="hand_part_4_sensor_0_bottom">
        <inertial>
            <origin xyz="0 0 0" rpy="0 0 0"/>
            <mass value="0"/>
            <inertia ixx=".1" ixy=".1" ixz=".1" iyy=".1" iyz=".1" izz=".1"/>
        </inertial>
        <visual>
            <origin xyz="0 0 0" rpy="0 0 0"/>
            <geometry>
                <box size="0.3901806440322565 0.2 0.02"/>
            </geometry>
        </visual>
        <collision>
            <origin xyz="0 0 0" rpy="0 0 0"/>
            <geometry>
                <box size="0.3901806440322565 0.2 0.02"/>
            </geometry>
        </collision>
    </link>
    <!-- Joint: hand_part_4, hand_part_4_sensor_0_bottom -->
    <joint name="hand_part_4_hand_part_4_sensor_0_bottom_joint" type="fixed">
        <parent link="hand_part_4"/>
        <child link="hand_part_4_sensor_0_bottom"/>
        <origin xyz="0 0 -0.5"
                rpy="0 0 0"/>
        <axis xyz="0 1 0"/>
        
    </joint>


    <!-- hand_part_4_sensor_0_left -->
    <link name="hand_part_4_sensor_0_left">
        <inertial>
            <origin xyz="0 0 0" rpy="0 0 0"/>
            <mass value="0"/>
            <inertia ixx=".1" ixy=".1" ixz=".1" iyy=".1" iyz=".1" izz=".1"/>
        </inertial>
        <visual>
            <origin xyz="0 0 0" rpy="0 0 0"/>
            <geometry>
                <box size="0.3901806440322565 0.02 1"/>
            </geometry>
        </visual>
        <collision>
            <origin xyz="0 0 0" rpy="0 0 0"/>
            <geometry>
                <box size="0.3901806440322565 0.02 1"/>
            </geometry>
        </collision>
    </link>
    <!-- Joint: hand_part_4, hand_part_4_sensor_0_left -->
    <joint name="hand_part_4_hand_part_4_sensor_0_left_joint" type="fixed">
        <parent link="hand_part_4"/>
        <child link="hand_part_4_sensor_0_left"/>
        <origin xyz="0 0.1 0"
                rpy="0 0 0"/>
        <axis xyz="0 1 0"/>
        
    </joint>


    <!-- hand_part_4_sensor_0_right -->
    <link name="hand_part_4_sensor_0_right">
        <inertial>
            <origin xyz="0 0 0" rpy="0 0 0"/>
            <mass value="0"/>
            <inertia ixx=".1" ixy=".1" ixz=".1" iyy=".1" iyz=".1" izz=".1"/>
        </inertial>
        <visual>
            <origin xyz="0 0 0" rpy="0 0 0"/>
            <geometry>
                <box size="0.3901806440322565 0.02 1"/>
            </geometry>
        </visual>
        <collision>
            <origin xyz="0 0 0" rpy="0 0 0"/>
            <geometry>
                <box size="0.3901806440322565 0.02 1"/>
            </geometry>
        </collision>
    </link>
    <!-- Joint: hand_part_4, hand_part_4_sensor_0_right -->
    <joint name="hand_part_4_hand_part_4_sensor_0_right_joint" type="fixed">
        <parent link="hand_part_4"/>
        <child link="hand_part_4_sensor_0_right"/>
        <origin xyz="0 -0.1 0"
                rpy="0 0 0"/>
        <axis xyz="0 1 0"/>
        
    </joint>
    <!-- Joint: wrist, hand_part_4 -->
    <joint name="wrist_hand_part_4_joint" type="fixed">
        <parent link="wrist"/>
        <child link="hand_part_4"/>
        <origin xyz="-0.7807852804032303 0.9807852804032303 -0.5"
                rpy="0.5 0 0.0"/>
        <axis xyz="0 1 0"/>
        
    </joint>


    <!-- hand_part_5 -->
    <link name="hand_part_5">
        <inertial>
            <origin xyz="0 0 0" rpy="0 0 0"/>
            <mass value="2"/>
            <inertia ixx=".1" ixy=".1" ixz=".1" iyy=".1" iyz=".1" izz=".1"/>
        </inertial>
        <visual>
            <origin xyz="0 0 0" rpy="0 0 0"/>
            <geometry>
                <box size="0.3901806440322565 0.2 1"/>
            </geometry>
        </visual>
        <collision>
            <origin xyz="0 0 0" rpy="0 0 0"/>
            <geometry>
                <box size="0.3901806440322565 0.2 1"/>
            </geometry>
        </collision>
    </link>


    <!-- hand_part_5_sensor_0_top -->
    <link name="hand_part_5_sensor_0_top">
        <inertial>
            <origin xyz="0 0 0" rpy="0 0 0"/>
            <mass value="0"/>
            <inertia ixx=".1" ixy=".1" ixz=".1" iyy=".1" iyz=".1" izz=".1"/>
        </inertial>
        <visual>
            <origin xyz="0 0 0" rpy="0 0 0"/>
            <geometry>
                <box size="0.3901806440322565 0.2 0.02"/>
            </geometry>
        </visual>
        <collision>
            <origin xyz="0 0 0" rpy="0 0 0"/>
            <geometry>
                <box size="0.3901806440322565 0.2 0.02"/>
            </geometry>
        </collision>
    </link>
    <!-- Joint: hand_part_5, hand_part_5_sensor_0_top -->
    <joint name="hand_part_5_hand_part_5_sensor_0_top_joint" type="fixed">
        <parent link="hand_part_5"/>
        <child link="hand_part_5_sensor_0_top"/>
        <origin xyz="0 0 0.5"
                rpy="0 0 0"/>
        <axis xyz="0 1 0"/>
        
    </joint>


    <!-- hand_part_5_sensor_0_bottom -->
    <link name="hand_part_5_sensor_0_bottom">
        <inertial>
            <origin xyz="0 0 0" rpy="0 0 0"/>
            <mass value="0"/>
            <inertia ixx=".1" ixy=".1" ixz=".1" iyy=".1" iyz=".1" izz=".1"/>
        </inertial>
        <visual>
            <origin xyz="0 0 0" rpy="0 0 0"/>
            <geometry>
                <box size="0.3901806440322565 0.2 0.02"/>
            </geometry>
        </visual>
        <collision>
            <origin xyz="0 0 0" rpy="0 0 0"/>
            <geometry>
                <box size="0.3901806440322565 0.2 0.02"/>
            </geometry>
        </collision>
    </link>
    <!-- Joint: hand_part_5, hand_part_5_sensor_0_bottom -->
    <joint name="hand_part_5_hand_part_5_sensor_0_bottom_joint" type="fixed">
        <parent link="hand_part_5"/>
        <child link="hand_part_5_sensor_0_bottom"/>
        <origin xyz="0 0 -0.5"
                rpy="0 0 0"/>
        <axis xyz="0 1 0"/>
        
    </joint>


    <!-- hand_part_5_sensor_0_left -->
    <link name="hand_part_5_sensor_0_left">
        <inertial>
            <origin xyz="0 0 0" rpy="0 0 0"/>
            <mass value="0"/>
            <inertia ixx=".1" ixy=".1" ixz=".1" iyy=".1" iyz=".1" izz=".1"/>
        </inertial>
        <visual>
            <origin xyz="0 0 0" rpy="0 0 0"/>
            <geometry>
                <box size="0.3901806440322565 0.02 1"/>
            </geometry>
        </visual>
        <collision>
            <origin xyz="0 0 0" rpy="0 0 0"/>
            <geometry>
                <box size="0.3901806440322565 0.02 1"/>
            </geometry>
        </collision>
    </link>
    <!-- Joint: hand_part_5, hand_part_5_sensor_0_left -->
    <joint name="hand_part_5_hand_part_5_sensor_0_left_joint" type="fixed">
        <parent link="hand_part_5"/>
        <child link="hand_part_5_sensor_0_left"/>
        <origin xyz="0 0.1 0"
                rpy="0 0 0"/>
        <axis xyz="0 1 0"/>
        
    </joint>


    <!-- hand_part_5_sensor_0_right -->
    <link name="hand_part_5_sensor_0_right">
        <inertial>
            <origin xyz="0 0 0" rpy="0 0 0"/>
            <mass value="0"/>
            <inertia ixx=".1" ixy=".1" ixz=".1" iyy=".1" iyz=".1" izz=".1"/>
        </inertial>
        <visual>
            <origin xyz="0 0 0" rpy="0 0 0"/>
            <geometry>
                <box size="0.3901806440322565 0.02 1"/>
            </geometry>
        </visual>
        <collision>
            <origin xyz="0 0 0" rpy="0 0 0"/>
            <geometry>
                <box size="0.3901806440322565 0.02 1"/>
            </geometry>
        </collision>
    </link>
    <!-- Joint: hand_part_5, hand_part_5_sensor_0_right -->
    <joint name="hand_part_5_hand_part_5_sensor_0_right_joint" type="fixed">
        <parent link="hand_part_5"/>
        <child link="hand_part_5_sensor_0_right"/>
        <origin xyz="0 -0.1 0"
                rpy="0 0 0"/>
        <axis xyz="0 1 0"/>
        
    </joint>
    <!-- Joint: wrist, hand_part_5 -->
    <joint name="wrist_hand_part_5_joint" type="fixed">
        <parent link="wrist"/>
        <child link="hand_part_5"/>
        <origin xyz="-1.1561155579210953 0.9061274463528877 -0.5"
                rpy="0.5 0 0.39269908169872414"/>
        <axis xyz="0 1 0"/>
        
    </joint>


    <!-- hand_part_11 -->
    <link name="hand_part_11">
        <inertial>
            <origin xyz="0 0 0" rpy="0 0 0"/>
            <mass value="2"/>
            <inertia ixx=".1" ixy=".1" ixz=".1" iyy=".1" iyz=".1" izz=".1"/>
        </inertial>
        <visual>
            <origin xyz="0 0 0" rpy="0 0 0"/>
            <geometry>
                <box size="0.3901806440322565 0.2 1"/>
            </geometry>
        </visual>
        <collision>
            <origin xyz="0 0 0" rpy="0 0 0"/>
            <geometry>
                <box size="0.3901806440322565 0.2 1"/>
            </geometry>
        </collision>
    </link>


    <!-- hand_part_11_sensor_0_top -->
    <link name="hand_part_11_sensor_0_top">
        <inertial>
            <origin xyz="0 0 0" rpy="0 0 0"/>
            <mass value="0"/>
            <inertia ixx=".1" ixy=".1" ixz=".1" iyy=".1" iyz=".1" izz=".1"/>
        </inertial>
        <visual>
            <origin xyz="0 0 0" rpy="0 0 0"/>
            <geometry>
                <box size="0.3901806440322565 0.2 0.02"/>
            </geometry>
        </visual>
        <collision>
            <origin xyz="0 0 0" rpy="0 0 0"/>
            <geometry>
                <box size="0.3901806440322565 0.2 0.02"/>
            </geometry>
        </collision>
    </link>
    <!-- Joint: hand_part_11, hand_part_11_sensor_0_top -->
    <joint name="hand_part_11_hand_part_11_sensor_0_top_joint" type="fixed">
        <parent link="hand_part_11"/>
        <child link="hand_part_11_sensor_0_top"/>
        <origin xyz="0 0 0.5"
                rpy="0 0 0"/>
        <axis xyz="0 1 0"/>
        
    </joint>


    <!-- hand_part_11_sensor_0_bottom -->
    <link name="hand_part_11_sensor_0_bottom">
        <inertial>
            <origin xyz="0 0 0" rpy="0 0 0"/>
            <mass value="0"/>
            <inertia ixx=".1" ixy=".1" ixz=".1" iyy=".1" iyz=".1" izz=".1"/>
        </inertial>
        <visual>
            <origin xyz="0 0 0" rpy="0 0 0"/>
            <geometry>
                <box size="0.3901806440322565 0.2 0.02"/>
            </geometry>
        </visual>
        <collision>
            <origin xyz="0 0 0" rpy="0 0 0"/>
            <geometry>
                <box size="0.3901806440322565 0.2 0.02"/>
            </geometry>
        </collision>
    </link>
    <!-- Joint: hand_part_11, hand_part_11_sensor_0_bottom -->
    <joint name="hand_part_11_hand_part_11_sensor_0_bottom_joint" type="fixed">
        <parent link="hand_part_11"/>
        <child link="hand_part_11_sensor_0_bottom"/>
        <origin xyz="0 0 -0.5"
                rpy="0 0 0"/>
        <axis xyz="0 1 0"/>
        
    </joint>


    <!-- hand_part_11_sensor_0_left -->
    <link name="hand_part_11_sensor_0_left">
        <inertial>
            <origin xyz="0 0 0" rpy="0 0 0"/>
            <mass value="0"/>
            <inertia ixx=".1" ixy=".1" ixz=".1" iyy=".1" iyz=".1" izz=".1"/>
        </inertial>
        <visual>
            <origin xyz="0 0 0" rpy="0 0 0"/>
            <geometry>
                <box size="0.3901806440322565 0.02 1"/>
            </geometry>
        </visual>
        <collision>
            <origin xyz="0 0 0" rpy="0 0 0"/>
            <geometry>
                <box size="0.3901806440322565 0.02 1"/>
            </geometry>
        </collision>
    </link>
    <!-- Joint: hand_part_11, hand_part_11_sensor_0_left -->
    <joint name="hand_part_11_hand_part_11_sensor_0_left_joint" type="fixed">
        <parent link="hand_part_11"/>
        <child link="hand_part_11_sensor_0_left"/>
        <origin xyz="0 0.1 0"
                rpy="0 0 0"/>
        <axis xyz="0 1 0"/>
        
    </joint>


    <!-- hand_part_11_sensor_0_right -->
    <link name="hand_part_11_sensor_0_right">
        <inertial>
            <origin xyz="0 0 0" rpy="0 0 0"/>
            <mass value="0"/>
            <inertia ixx=".1" ixy=".1" ixz=".1" iyy=".1" iyz=".1" izz=".1"/>
        </inertial>
        <visual>
            <origin xyz="0 0 0" rpy="0 0 0"/>
            <geometry>
                <box size="0.3901806440322565 0.02 1"/>
            </geometry>
        </visual>
        <collision>
            <origin xyz="0 0 0" rpy="0 0 0"/>
            <geometry>
                <box size="0.3901806440322565 0.02 1"/>
            </geometry>
        </collision>
    </link>
    <!-- Joint: hand_part_11, hand_part_11_sensor_0_right -->
    <joint name="hand_part_11_hand_part_11_sensor_0_right_joint" type="fixed">
        <parent link="hand_part_11"/>
        <child link="hand_part_11_sensor_0_right"/>
        <origin xyz="0 -0.1 0"
                rpy="0 0 0"/>
        <axis xyz="0 1 0"/>
        
    </joint>
    <!-- Joint: wrist, hand_part_11 -->
    <joint name="wrist_hand_part_11_joint" type="fixed">
        <parent link="wrist"/>
        <child link="hand_part_11"/>
        <origin xyz="-1.156115557921096 -0.9061274463528874 -0.5"
                rpy="0.5 0 2.7488935718910685"/>
        <axis xyz="0 1 0"/>
        
    </joint>


    <!-- hand_part_12 -->
    <link name="hand_part_12">
        <inertial>
            <origin xyz="0 0 0" rpy="0 0 0"/>
            <mass value="2"/>
            <inertia ixx=".1" ixy=".1" ixz=".1" iyy=".1" iyz=".1" izz=".1"/>
        </inertial>
        <visual>
            <origin xyz="0 0 0" rpy="0 0 0"/>
            <geometry>
                <box size="0.3901806440322565 0.2 1"/>
            </geometry>
        </visual>
        <collision>
            <origin xyz="0 0 0" rpy="0 0 0"/>
            <geometry>
                <box size="0.3901806440322565 0.2 1"/>
            </geometry>
        </collision>
    </link>


    <!-- hand_part_12_sensor_0_top -->
    <link name="hand_part_12_sensor_0_top">
        <inertial>
            <origin xyz="0 0 0" rpy="0 0 0"/>
            <mass value="0"/>
            <inertia ixx=".1" ixy=".1" ixz=".1" iyy=".1" iyz=".1" izz=".1"/>
        </inertial>
        <visual>
            <origin xyz="0 0 0" rpy="0 0 0"/>
            <geometry>
                <box size="0.3901806440322565 0.2 0.02"/>
            </geometry>
        </visual>
        <collision>
            <origin xyz="0 0 0" rpy="0 0 0"/>
            <geometry>
                <box size="0.3901806440322565 0.2 0.02"/>
            </geometry>
        </collision>
    </link>
    <!-- Joint: hand_part_12, hand_part_12_sensor_0_top -->
    <joint name="hand_part_12_hand_part_12_sensor_0_top_joint" type="fixed">
        <parent link="hand_part_12"/>
        <child link="hand_part_12_sensor_0_top"/>
        <origin xyz="0 0 0.5"
                rpy="0 0 0"/>
        <axis xyz="0 1 0"/>
        
    </joint>


    <!-- hand_part_12_sensor_0_bottom -->
    <link name="hand_part_12_sensor_0_bottom">
        <inertial>
            <origin xyz="0 0 0" rpy="0 0 0"/>
            <mass value="0"/>
            <inertia ixx=".1" ixy=".1" ixz=".1" iyy=".1" iyz=".1" izz=".1"/>
        </inertial>
        <visual>
            <origin xyz="0 0 0" rpy="0 0 0"/>
            <geometry>
                <box size="0.3901806440322565 0.2 0.02"/>
            </geometry>
        </visual>
        <collision>
            <origin xyz="0 0 0" rpy="0 0 0"/>
            <geometry>
                <box size="0.3901806440322565 0.2 0.02"/>
            </geometry>
        </collision>
    </link>
    <!-- Joint: hand_part_12, hand_part_12_sensor_0_bottom -->
    <joint name="hand_part_12_hand_part_12_sensor_0_bottom_joint" type="fixed">
        <parent link="hand_part_12"/>
        <child link="hand_part_12_sensor_0_bottom"/>
        <origin xyz="0 0 -0.5"
                rpy="0 0 0"/>
        <axis xyz="0 1 0"/>
        
    </joint>


    <!-- hand_part_12_sensor_0_left -->
    <link name="hand_part_12_sensor_0_left">
        <inertial>
            <origin xyz="0 0 0" rpy="0 0 0"/>
            <mass value="0"/>
            <inertia ixx=".1" ixy=".1" ixz=".1" iyy=".1" iyz=".1" izz=".1"/>
        </inertial>
        <visual>
            <origin xyz="0 0 0" rpy="0 0 0"/>
            <geometry>
                <box size="0.3901806440322565 0.02 1"/>
            </geometry>
        </visual>
        <collision>
            <origin xyz="0 0 0" rpy="0 0 0"/>
            <geometry>
                <box size="0.3901806440322565 0.02 1"/>
            </geometry>
        </collision>
    </link>
    <!-- Joint: hand_part_12, hand_part_12_sensor_0_left -->
    <joint name="hand_part_12_hand_part_12_sensor_0_left_joint" type="fixed">
        <parent link="hand_part_12"/>
        <child link="hand_part_12_sensor_0_left"/>
        <origin xyz="0 0.1 0"
                rpy="0 0 0"/>
        <axis xyz="0 1 0"/>
        
    </joint>


    <!-- hand_part_12_sensor_0_right -->
    <link name="hand_part_12_sensor_0_right">
        <inertial>
            <origin xyz="0 0 0" rpy="0 0 0"/>
            <mass value="0"/>
            <inertia ixx=".1" ixy=".1" ixz=".1" iyy=".1" iyz=".1" izz=".1"/>
        </inertial>
        <visual>
            <origin xyz="0 0 0" rpy="0 0 0"/>
            <geometry>
                <box size="0.3901806440322565 0.02 1"/>
            </geometry>
        </visual>
        <collision>
            <origin xyz="0 0 0" rpy="0 0 0"/>
            <geometry>
                <box size="0.3901806440322565 0.02 1"/>
            </geometry>
        </collision>
    </link>
    <!-- Joint: hand_part_12, hand_part_12_sensor_0_right -->
    <joint name="hand_part_12_hand_part_12_sensor_0_right_joint" type="fixed">
        <parent link="hand_part_12"/>
        <child link="hand_part_12_sensor_0_right"/>
        <origin xyz="0 -0.1 0"
                rpy="0 0 0"/>
        <axis xyz="0 1 0"/>
        
    </joint>
    <!-- Joint: wrist, hand_part_12 -->
    <joint name="wrist_hand_part_12_joint" type="fixed">
        <parent link="wrist"/>
        <child link="hand_part_12"/>
        <origin xyz="-0.7807852804032305 -0.9807852804032303 -0.5"
                rpy="0.5 0 3.141592653589793"/>
        <axis xyz="0 1 0"/>
        
    </joint>


    <!-- hand_part_13 -->
    <link name="hand_part_13">
        <inertial>
            <origin xyz="0 0 0" rpy="0 0 0"/>
            <mass value="2"/>
            <inertia ixx=".1" ixy=".1" ixz=".1" iyy=".1" iyz=".1" izz=".1"/>
        </inertial>
        <visual>
            <origin xyz="0 0 0" rpy="0 0 0"/>
            <geometry>
                <box size="0.3901806440322565 0.2 1"/>
            </geometry>
        </visual>
        <collision>
            <origin xyz="0 0 0" rpy="0 0 0"/>
            <geometry>
                <box size="0.3901806440322565 0.2 1"/>
            </geometry>
        </collision>
    </link>


    <!-- hand_part_13_sensor_0_top -->
    <link name="hand_part_13_sensor_0_top">
        <inertial>
            <origin xyz="0 0 0" rpy="0 0 0"/>
            <mass value="0"/>
            <inertia ixx=".1" ixy=".1" ixz=".1" iyy=".1" iyz=".1" izz=".1"/>
        </inertial>
        <visual>
            <origin xyz="0 0 0" rpy="0 0 0"/>
            <geometry>
                <box size="0.3901806440322565 0.2 0.02"/>
            </geometry>
        </visual>
        <collision>
            <origin xyz="0 0 0" rpy="0 0 0"/>
            <geometry>
                <box size="0.3901806440322565 0.2 0.02"/>
            </geometry>
        </collision>
    </link>
    <!-- Joint: hand_part_13, hand_part_13_sensor_0_top -->
    <joint name="hand_part_13_hand_part_13_sensor_0_top_joint" type="fixed">
        <parent link="hand_part_13"/>
        <child link="hand_part_13_sensor_0_top"/>
        <origin xyz="0 0 0.5"
                rpy="0 0 0"/>
        <axis xyz="0 1 0"/>
        
    </joint>


    <!-- hand_part_13_sensor_0_bottom -->
    <link name="hand_part_13_sensor_0_bottom">
        <inertial>
            <origin xyz="0 0 0" rpy="0 0 0"/>
            <mass value="0"/>
            <inertia ixx=".1" ixy=".1" ixz=".1" iyy=".1" iyz=".1" izz=".1"/>
        </inertial>
        <visual>
            <origin xyz="0 0 0" rpy="0 0 0"/>
            <geometry>
                <box size="0.3901806440322565 0.2 0.02"/>
            </geometry>
        </visual>
        <collision>
            <origin xyz="0 0 0" rpy="0 0 0"/>
            <geometry>
                <box size="0.3901806440322565 0.2 0.02"/>
            </geometry>
        </collision>
    </link>
    <!-- Joint: hand_part_13, hand_part_13_sensor_0_bottom -->
    <joint name="hand_part_13_hand_part_13_sensor_0_bottom_joint" type="fixed">
        <parent link="hand_part_13"/>
        <child link="hand_part_13_sensor_0_bottom"/>
        <origin xyz="0 0 -0.5"
                rpy="0 0 0"/>
        <axis xyz="0 1 0"/>
        
    </joint>


    <!-- hand_part_13_sensor_0_left -->
    <link name="hand_part_13_sensor_0_left">
        <inertial>
            <origin xyz="0 0 0" rpy="0 0 0"/>
            <mass value="0"/>
            <inertia ixx=".1" ixy=".1" ixz=".1" iyy=".1" iyz=".1" izz=".1"/>
        </inertial>
        <visual>
            <origin xyz="0 0 0" rpy="0 0 0"/>
            <geometry>
                <box size="0.3901806440322565 0.02 1"/>
            </geometry>
        </visual>
        <collision>
            <origin xyz="0 0 0" rpy="0 0 0"/>
            <geometry>
                <box size="0.3901806440322565 0.02 1"/>
            </geometry>
        </collision>
    </link>
    <!-- Joint: hand_part_13, hand_part_13_sensor_0_left -->
    <joint name="hand_part_13_hand_part_13_sensor_0_left_joint" type="fixed">
        <parent link="hand_part_13"/>
        <child link="hand_part_13_sensor_0_left"/>
        <origin xyz="0 0.1 0"
                rpy="0 0 0"/>
        <axis xyz="0 1 0"/>
        
    </joint>


    <!-- hand_part_13_sensor_0_right -->
    <link name="hand_part_13_sensor_0_right">
        <inertial>
            <origin xyz="0 0 0" rpy="0 0 0"/>
            <mass value="0"/>
            <inertia ixx=".1" ixy=".1" ixz=".1" iyy=".1" iyz=".1" izz=".1"/>
        </inertial>
        <visual>
            <origin xyz="0 0 0" rpy="0 0 0"/>
            <geometry>
                <box size="0.3901806440322565 0.02 1"/>
            </geometry>
        </visual>
        <collision>
            <origin xyz="0 0 0" rpy="0 0 0"/>
            <geometry>
                <box size="0.3901806440322565 0.02 1"/>
            </geometry>
        </collision>
    </link>
    <!-- Joint: hand_part_13, hand_part_13_sensor_0_right -->
    <joint name="hand_part_13_hand_part_13_sensor_0_right_joint" type="fixed">
        <parent link="hand_part_13"/>
        <child link="hand_part_13_sensor_0_right"/>
        <origin xyz="0 -0.1 0"
                rpy="0 0 0"/>
        <axis xyz="0 1 0"/>
        
    </joint>
    <!-- Joint: wrist, hand_part_13 -->
    <joint name="wrist_hand_part_13_joint" type="fixed">
        <parent link="wrist"/>
        <child link="hand_part_13"/>
        <origin xyz="-0.4054550028853648 -0.9061274463528876 -0.5"
                rpy="0.5 0 3.5342917352885177"/>
        <axis xyz="0 1 0"/>
        
    </joint>


    <!-- hand_part_14 -->
    <link name="hand_part_14">
        <inertial>
            <origin xyz="0 0 0" rpy="0 0 0"/>
            <mass value="2"/>
            <inertia ixx=".1" ixy=".1" ixz=".1" iyy=".1" iyz=".1" izz=".1"/>
        </inertial>
        <visual>
            <origin xyz="0 0 0" rpy="0 0 0"/>
            <geometry>
                <box size="0.3901806440322565 0.2 1"/>
            </geometry>
        </visual>
        <collision>
            <origin xyz="0 0 0" rpy="0 0 0"/>
            <geometry>
                <box size="0.3901806440322565 0.2 1"/>
            </geometry>
        </collision>
    </link>


    <!-- hand_part_14_sensor_0_top -->
    <link name="hand_part_14_sensor_0_top">
        <inertial>
            <origin xyz="0 0 0" rpy="0 0 0"/>
            <mass value="0"/>
            <inertia ixx=".1" ixy=".1" ixz=".1" iyy=".1" iyz=".1" izz=".1"/>
        </inertial>
        <visual>
            <origin xyz="0 0 0" rpy="0 0 0"/>
            <geometry>
                <box size="0.3901806440322565 0.2 0.02"/>
            </geometry>
        </visual>
        <collision>
            <origin xyz="0 0 0" rpy="0 0 0"/>
            <geometry>
                <box size="0.3901806440322565 0.2 0.02"/>
            </geometry>
        </collision>
    </link>
    <!-- Joint: hand_part_14, hand_part_14_sensor_0_top -->
    <joint name="hand_part_14_hand_part_14_sensor_0_top_joint" type="fixed">
        <parent link="hand_part_14"/>
        <child link="hand_part_14_sensor_0_top"/>
        <origin xyz="0 0 0.5"
                rpy="0 0 0"/>
        <axis xyz="0 1 0"/>
        
    </joint>


    <!-- hand_part_14_sensor_0_bottom -->
    <link name="hand_part_14_sensor_0_bottom">
        <inertial>
            <origin xyz="0 0 0" rpy="0 0 0"/>
            <mass value="0"/>
            <inertia ixx=".1" ixy=".1" ixz=".1" iyy=".1" iyz=".1" izz=".1"/>
        </inertial>
        <visual>
            <origin xyz="0 0 0" rpy="0 0 0"/>
            <geometry>
                <box size="0.3901806440322565 0.2 0.02"/>
            </geometry>
        </visual>
        <collision>
            <origin xyz="0 0 0" rpy="0 0 0"/>
            <geometry>
                <box size="0.3901806440322565 0.2 0.02"/>
            </geometry>
        </collision>
    </link>
    <!-- Joint: hand_part_14, hand_part_14_sensor_0_bottom -->
    <joint name="hand_part_14_hand_part_14_sensor_0_bottom_joint" type="fixed">
        <parent link="hand_part_14"/>
        <child link="hand_part_14_sensor_0_bottom"/>
        <origin xyz="0 0 -0.5"
                rpy="0 0 0"/>
        <axis xyz="0 1 0"/>
        
    </joint>


    <!-- hand_part_14_sensor_0_left -->
    <link name="hand_part_14_sensor_0_left">
        <inertial>
            <origin xyz="0 0 0" rpy="0 0 0"/>
            <mass value="0"/>
            <inertia ixx=".1" ixy=".1" ixz=".1" iyy=".1" iyz=".1" izz=".1"/>
        </inertial>
        <visual>
            <origin xyz="0 0 0" rpy="0 0 0"/>
            <geometry>
                <box size="0.3901806440322565 0.02 1"/>
            </geometry>
        </visual>
        <collision>
            <origin xyz="0 0 0" rpy="0 0 0"/>
            <geometry>
                <box size="0.3901806440322565 0.02 1"/>
            </geometry>
        </collision>
    </link>
    <!-- Joint: hand_part_14, hand_part_14_sensor_0_left -->
    <joint name="hand_part_14_hand_part_14_sensor_0_left_joint" type="fixed">
        <parent link="hand_part_14"/>
        <child link="hand_part_14_sensor_0_left"/>
        <origin xyz="0 0.1 0"
                rpy="0 0 0"/>
        <axis xyz="0 1 0"/>
        
    </joint>


    <!-- hand_part_14_sensor_0_right -->
    <link name="hand_part_14_sensor_0_right">
        <inertial>
            <origin xyz="0 0 0" rpy="0 0 0"/>
            <mass value="0"/>
            <inertia ixx=".1" ixy=".1" ixz=".1" iyy=".1" iyz=".1" izz=".1"/>
        </inertial>
        <visual>
            <origin xyz="0 0 0" rpy="0 0 0"/>
            <geometry>
                <box size="0.3901806440322565 0.02 1"/>
            </geometry>
        </visual>
        <collision>
            <origin xyz="0 0 0" rpy="0 0 0"/>
            <geometry>
                <box size="0.3901806440322565 0.02 1"/>
            </geometry>
        </collision>
    </link>
    <!-- Joint: hand_part_14, hand_part_14_sensor_0_right -->
    <joint name="hand_part_14_hand_part_14_sensor_0_right_joint" type="fixed">
        <parent link="hand_part_14"/>
        <child link="hand_part_14_sensor_0_right"/>
        <origin xyz="0 -0.1 0"
                rpy="0 0 0"/>
        <axis xyz="0 1 0"/>
        
    </joint>
    <!-- Joint: wrist, hand_part_14 -->
    <joint name="wrist_hand_part_14_joint" type="fixed">
        <parent link="wrist"/>
        <child link="hand_part_14"/>
        <origin xyz="-0.08726535774215682 -0.6935199226610738 -0.5"
                rpy="0.5 0 3.9269908169872414"/>
        <axis xyz="0 1 0"/>
        
    </joint>


    <!-- hand_part_15 -->
    <link name="hand_part_15">
        <inertial>
            <origin xyz="0 0 0" rpy="0 0 0"/>
            <mass value="2"/>
            <inertia ixx=".1" ixy=".1" ixz=".1" iyy=".1" iyz=".1" izz=".1"/>
        </inertial>
        <visual>
            <origin xyz="0 0 0" rpy="0 0 0"/>
            <geometry>
                <box size="0.3901806440322565 0.2 1"/>
            </geometry>
        </visual>
        <collision>
            <origin xyz="0 0 0" rpy="0 0 0"/>
            <geometry>
                <box size="0.3901806440322565 0.2 1"/>
            </geometry>
        </collision>
    </link>


    <!-- hand_part_15_sensor_0_top -->
    <link name="hand_part_15_sensor_0_top">
        <inertial>
            <origin xyz="0 0 0" rpy="0 0 0"/>
            <mass value="0"/>
            <inertia ixx=".1" ixy=".1" ixz=".1" iyy=".1" iyz=".1" izz=".1"/>
        </inertial>
        <visual>
            <origin xyz="0 0 0" rpy="0 0 0"/>
            <geometry>
                <box size="0.3901806440322565 0.2 0.02"/>
            </geometry>
        </visual>
        <collision>
            <origin xyz="0 0 0" rpy="0 0 0"/>
            <geometry>
                <box size="0.3901806440322565 0.2 0.02"/>
            </geometry>
        </collision>
    </link>
    <!-- Joint: hand_part_15, hand_part_15_sensor_0_top -->
    <joint name="hand_part_15_hand_part_15_sensor_0_top_joint" type="fixed">
        <parent link="hand_part_15"/>
        <child link="hand_part_15_sensor_0_top"/>
        <origin xyz="0 0 0.5"
                rpy="0 0 0"/>
        <axis xyz="0 1 0"/>
        
    </joint>


    <!-- hand_part_15_sensor_0_bottom -->
    <link name="hand_part_15_sensor_0_bottom">
        <inertial>
            <origin xyz="0 0 0" rpy="0 0 0"/>
            <mass value="0"/>
            <inertia ixx=".1" ixy=".1" ixz=".1" iyy=".1" iyz=".1" izz=".1"/>
        </inertial>
        <visual>
            <origin xyz="0 0 0" rpy="0 0 0"/>
            <geometry>
                <box size="0.3901806440322565 0.2 0.02"/>
            </geometry>
        </visual>
        <collision>
            <origin xyz="0 0 0" rpy="0 0 0"/>
            <geometry>
                <box size="0.3901806440322565 0.2 0.02"/>
            </geometry>
        </collision>
    </link>
    <!-- Joint: hand_part_15, hand_part_15_sensor_0_bottom -->
    <joint name="hand_part_15_hand_part_15_sensor_0_bottom_joint" type="fixed">
        <parent link="hand_part_15"/>
        <child link="hand_part_15_sensor_0_bottom"/>
        <origin xyz="0 0 -0.5"
                rpy="0 0 0"/>
        <axis xyz="0 1 0"/>
        
    </joint>


    <!-- hand_part_15_sensor_0_left -->
    <link name="hand_part_15_sensor_0_left">
        <inertial>
            <origin xyz="0 0 0" rpy="0 0 0"/>
            <mass value="0"/>
            <inertia ixx=".1" ixy=".1" ixz=".1" iyy=".1" iyz=".1" izz=".1"/>
        </inertial>
        <visual>
            <origin xyz="0 0 0" rpy="0 0 0"/>
            <geometry>
                <box size="0.3901806440322565 0.02 1"/>
            </geometry>
        </visual>
        <collision>
            <origin xyz="0 0 0" rpy="0 0 0"/>
            <geometry>
                <box size="0.3901806440322565 0.02 1"/>
            </geometry>
        </collision>
    </link>
    <!-- Joint: hand_part_15, hand_part_15_sensor_0_left -->
    <joint name="hand_part_15_hand_part_15_sensor_0_left_joint" type="fixed">
        <parent link="hand_part_15"/>
        <child link="hand_part_15_sensor_0_left"/>
        <origin xyz="0 0.1 0"
                rpy="0 0 0"/>
        <axis xyz="0 1 0"/>
        
    </joint>


    <!-- hand_part_15_sensor_0_right -->
    <link name="hand_part_15_sensor_0_right">
        <inertial>
            <origin xyz="0 0 0" rpy="0 0 0"/>
            <mass value="0"/>
            <inertia ixx=".1" ixy=".1" ixz=".1" iyy=".1" iyz=".1" izz=".1"/>
        </inertial>
        <visual>
            <origin xyz="0 0 0" rpy="0 0 0"/>
            <geometry>
                <box size="0.3901806440322565 0.02 1"/>
            </geometry>
        </visual>
        <collision>
            <origin xyz="0 0 0" rpy="0 0 0"/>
            <geometry>
                <box size="0.3901806440322565 0.02 1"/>
            </geometry>
        </collision>
    </link>
    <!-- Joint: hand_part_15, hand_part_15_sensor_0_right -->
    <joint name="hand_part_15_hand_part_15_sensor_0_right_joint" type="fixed">
        <parent link="hand_part_15"/>
        <child link="hand_part_15_sensor_0_right"/>
        <origin xyz="0 -0.1 0"
                rpy="0 0 0"/>
        <axis xyz="0 1 0"/>
        
    </joint>
    <!-- Joint: wrist, hand_part_15 -->
    <joint name="wrist_hand_part_15_joint" type="fixed">
        <parent link="wrist"/>
        <child link="hand_part_15"/>
        <origin xyz="0.1253421659496572 -0.3753302775178658 -0.5"
                rpy="0.5 0 4.319689898685965"/>
        <axis xyz="0 1 0"/>
        
    </joint>


    <!-- body_face_front_0 -->
    <link name="body_face_front_0">
        <inertial>
            <origin xyz="0 0 0" rpy="0 0 0"/>
            <mass value="0"/>
            <inertia ixx=".1" ixy=".1" ixz=".1" iyy=".1" iyz=".1" izz=".1"/>
        </inertial>
        <visual>
            <origin xyz="0 0 0" rpy="0 0 0"/>
            <geometry>
                <box size="0.002 0.1111111111111111 0.1111111111111111"/>
            </geometry>
        </visual>
        <collision>
            <origin xyz="0 0 0" rpy="0 0 0"/>
            <geometry>
                <box size="0.002 0.1111111111111111 0.1111111111111111"/>
            </geometry>
        </collision>
    </link>
    <!-- Joint: body, body_face_front_0 -->
    <joint name="body_body_face_front_0_joint" type="fixed">
        <parent link="body"/>
        <child link="body_face_front_0"/>
        <origin xyz="0.501 -0.33333333333333337 0.11111111111111116"
                rpy="0 0 0"/>
        <axis xyz="0 0 1"/>
        
    </joint>


    <!-- body_face_front_1 -->
    <link name="body_face_front_1">
        <inertial>
            <origin xyz="0 0 0" rpy="0 0 0"/>
            <mass value="0"/>
            <inertia ixx=".1" ixy=".1" ixz=".1" iyy=".1" iyz=".1" izz=".1"/>
        </inertial>
        <visual>
            <origin xyz="0 0 0" rpy="0 0 0"/>
            <geometry>
                <box size="0.002 0.1111111111111111 0.1111111111111111"/>
            </geometry>
        </visual>
        <collision>
            <origin xyz="0 0 0" rpy="0 0 0"/>
            <geometry>
                <box size="0.002 0.1111111111111111 0.1111111111111111"/>
            </geometry>
        </collision>
    </link>
    <!-- Joint: body, body_face_front_1 -->
    <joint name="body_body_face_front_1_joint" type="fixed">
        <parent link="body"/>
        <child link="body_face_front_1"/>
        <origin xyz="0.501 -0.2222222222222222 0.2222222222222222"
                rpy="0 0 0"/>
        <axis xyz="0 0 1"/>
        
    </joint>


    <!-- body_face_front_2 -->
    <link name="body_face_front_2">
        <inertial>
            <origin xyz="0 0 0" rpy="0 0 0"/>
            <mass value="0"/>
            <inertia ixx=".1" ixy=".1" ixz=".1" iyy=".1" iyz=".1" izz=".1"/>
        </inertial>
        <visual>
            <origin xyz="0 0 0" rpy="0 0 0"/>
            <geometry>
                <box size="0.002 0.1111111111111111 0.1111111111111111"/>
            </geometry>
        </visual>
        <collision>
            <origin xyz="0 0 0" rpy="0 0 0"/>
            <geometry>
                <box size="0.002 0.1111111111111111 0.1111111111111111"/>
            </geometry>
        </collision>
    </link>
    <!-- Joint: body, body_face_front_2 -->
    <joint name="body_body_face_front_2_joint" type="fixed">
        <parent link="body"/>
        <child link="body_face_front_2"/>
        <origin xyz="0.501 -0.1111111111111111 0.11111111111111116"
                rpy="0 0 0"/>
        <axis xyz="0 0 1"/>
        
    </joint>


    <!-- body_face_front_3 -->
    <link name="body_face_front_3">
        <inertial>
            <origin xyz="0 0 0" rpy="0 0 0"/>
            <mass value="0"/>
            <inertia ixx=".1" ixy=".1" ixz=".1" iyy=".1" iyz=".1" izz=".1"/>
        </inertial>
        <visual>
            <origin xyz="0 0 0" rpy="0 0 0"/>
            <geometry>
                <box size="0.002 0.1111111111111111 0.1111111111111111"/>
            </geometry>
        </visual>
        <collision>
            <origin xyz="0 0 0" rpy="0 0 0"/>
            <geometry>
                <box size="0.002 0.1111111111111111 0.1111111111111111"/>
            </geometry>
        </collision>
    </link>
    <!-- Joint: body, body_face_front_3 -->
    <joint name="body_body_face_front_3_joint" type="fixed">
        <parent link="body"/>
        <child link="body_face_front_3"/>
        <origin xyz="0.501 -0.1111111111111111 -0.2222222222222222"
                rpy="0 0 0"/>
        <axis xyz="0 0 1"/>
        
    </joint>


    <!-- body_face_front_4 -->
    <link name="body_face_front_4">
        <inertial>
            <origin xyz="0 0 0" rpy="0 0 0"/>
            <mass value="0"/>
            <inertia ixx=".1" ixy=".1" ixz=".1" iyy=".1" iyz=".1" izz=".1"/>
        </inertial>
        <visual>
            <origin xyz="0 0 0" rpy="0 0 0"/>
            <geometry>
                <box size="0.002 0.1111111111111111 0.1111111111111111"/>
            </geometry>
        </visual>
        <collision>
            <origin xyz="0 0 0" rpy="0 0 0"/>
            <geometry>
                <box size="0.002 0.1111111111111111 0.1111111111111111"/>
            </geometry>
        </collision>
    </link>
    <!-- Joint: body, body_face_front_4 -->
    <joint name="body_body_face_front_4_joint" type="fixed">
        <parent link="body"/>
        <child link="body_face_front_4"/>
        <origin xyz="0.501 0.0 -0.2222222222222222"
                rpy="0 0 0"/>
        <axis xyz="0 0 1"/>
        
    </joint>


    <!-- body_face_front_5 -->
    <link name="body_face_front_5">
        <inertial>
            <origin xyz="0 0 0" rpy="0 0 0"/>
            <mass value="0"/>
            <inertia ixx=".1" ixy=".1" ixz=".1" iyy=".1" iyz=".1" izz=".1"/>
        </inertial>
        <visual>
            <origin xyz="0 0 0" rpy="0 0 0"/>
            <geometry>
                <box size="0.002 0.1111111111111111 0.1111111111111111"/>
            </geometry>
        </visual>
        <collision>
            <origin xyz="0 0 0" rpy="0 0 0"/>
            <geometry>
                <box size="0.002 0.1111111111111111 0.1111111111111111"/>
            </geometry>
        </collision>
    </link>
    <!-- Joint: body, body_face_front_5 -->
    <joint name="body_body_face_front_5_joint" type="fixed">
        <parent link="body"/>
        <child link="body_face_front_5"/>
        <origin xyz="0.501 0.11111111111111116 0.11111111111111116"
                rpy="0 0 0"/>
        <axis xyz="0 0 1"/>
        
    </joint>


    <!-- body_face_front_6 -->
    <link name="body_face_front_6">
        <inertial>
            <origin xyz="0 0 0" rpy="0 0 0"/>
            <mass value="0"/>
            <inertia ixx=".1" ixy=".1" ixz=".1" iyy=".1" iyz=".1" izz=".1"/>
        </inertial>
        <visual>
            <origin xyz="0 0 0" rpy="0 0 0"/>
            <geometry>
                <box size="0.002 0.1111111111111111 0.1111111111111111"/>
            </geometry>
        </visual>
        <collision>
            <origin xyz="0 0 0" rpy="0 0 0"/>
            <geometry>
                <box size="0.002 0.1111111111111111 0.1111111111111111"/>
            </geometry>
        </collision>
    </link>
    <!-- Joint: body, body_face_front_6 -->
    <joint name="body_body_face_front_6_joint" type="fixed">
        <parent link="body"/>
        <child link="body_face_front_6"/>
        <origin xyz="0.501 0.11111111111111116 -0.2222222222222222"
                rpy="0 0 0"/>
        <axis xyz="0 0 1"/>
        
    </joint>


    <!-- body_face_front_7 -->
    <link name="body_face_front_7">
        <inertial>
            <origin xyz="0 0 0" rpy="0 0 0"/>
            <mass value="0"/>
            <inertia ixx=".1" ixy=".1" ixz=".1" iyy=".1" iyz=".1" izz=".1"/>
        </inertial>
        <visual>
            <origin xyz="0 0 0" rpy="0 0 0"/>
            <geometry>
                <box size="0.002 0.1111111111111111 0.1111111111111111"/>
            </geometry>
        </visual>
        <collision>
            <origin xyz="0 0 0" rpy="0 0 0"/>
            <geometry>
                <box size="0.002 0.1111111111111111 0.1111111111111111"/>
            </geometry>
        </collision>
    </link>
    <!-- Joint: body, body_face_front_7 -->
    <joint name="body_body_face_front_7_joint" type="fixed">
        <parent link="body"/>
        <child link="body_face_front_7"/>
        <origin xyz="0.501 0.2222222222222222 0.2222222222222222"
                rpy="0 0 0"/>
        <axis xyz="0 0 1"/>
        
    </joint>


    <!-- body_face_front_8 -->
    <link name="body_face_front_8">
        <inertial>
            <origin xyz="0 0 0" rpy="0 0 0"/>
            <mass value="0"/>
            <inertia ixx=".1" ixy=".1" ixz=".1" iyy=".1" iyz=".1" izz=".1"/>
        </inertial>
        <visual>
            <origin xyz="0 0 0" rpy="0 0 0"/>
            <geometry>
                <box size="0.002 0.1111111111111111 0.1111111111111111"/>
            </geometry>
        </visual>
        <collision>
            <origin xyz="0 0 0" rpy="0 0 0"/>
            <geometry>
                <box size="0.002 0.1111111111111111 0.1111111111111111"/>
            </geometry>
        </collision>
    </link>
    <!-- Joint: body, body_face_front_8 -->
    <joint name="body_body_face_front_8_joint" type="fixed">
        <parent link="body"/>
        <child link="body_face_front_8"/>
        <origin xyz="0.501 0.33333333333333337 0.11111111111111116"
                rpy="0 0 0"/>
        <axis xyz="0 0 1"/>
        
    </joint>


    <!-- body_face_top_0 -->
    <link name="body_face_top_0">
        <inertial>
            <origin xyz="0 0 0" rpy="0 0 0"/>
            <mass value="0"/>
            <inertia ixx=".1" ixy=".1" ixz=".1" iyy=".1" iyz=".1" izz=".1"/>
        </inertial>
        <visual>
            <origin xyz="0 0 0" rpy="0 0 0"/>
            <geometry>
                <box size="0.1111111111111111 0.1111111111111111 0.002"/>
            </geometry>
        </visual>
        <collision>
            <origin xyz="0 0 0" rpy="0 0 0"/>
            <geometry>
                <box size="0.1111111111111111 0.1111111111111111 0.002"/>
            </geometry>
        </collision>
    </link>
    <!-- Joint: body, body_face_top_0 -->
    <joint name="body_body_face_top_0_joint" type="fixed">
        <parent link="body"/>
        <child link="body_face_top_0"/>
        <origin xyz="0.11111111111111116 -0.2222222222222222 0.501"
                rpy="0 0 0"/>
        <axis xyz="0 0 1"/>
        
    </joint>


    <!-- body_face_top_1 -->
    <link name="body_face_top_1">
        <inertial>
            <origin xyz="0 0 0" rpy="0 0 0"/>
            <mass value="0"/>
            <inertia ixx=".1" ixy=".1" ixz=".1" iyy=".1" iyz=".1" izz=".1"/>
        </inertial>
        <visual>
            <origin xyz="0 0 0" rpy="0 0 0"/>
            <geometry>
                <box size="0.1111111111111111 0.1111111111111111 0.002"/>
            </geometry>
        </visual>
        <collision>
            <origin xyz="0 0 0" rpy="0 0 0"/>
            <geometry>
                <box size="0.1111111111111111 0.1111111111111111 0.002"/>
            </geometry>
        </collision>
    </link>
    <!-- Joint: body, body_face_top_1 -->
    <joint name="body_body_face_top_1_joint" type="fixed">
        <parent link="body"/>
        <child link="body_face_top_1"/>
        <origin xyz="0.11111111111111116 -0.1111111111111111 0.501"
                rpy="0 0 0"/>
        <axis xyz="0 0 1"/>
        
    </joint>


    <!-- body_face_top_2 -->
    <link name="body_face_top_2">
        <inertial>
            <origin xyz="0 0 0" rpy="0 0 0"/>
            <mass value="0"/>
            <inertia ixx=".1" ixy=".1" ixz=".1" iyy=".1" iyz=".1" izz=".1"/>
        </inertial>
        <visual>
            <origin xyz="0 0 0" rpy="0 0 0"/>
            <geometry>
                <box size="0.1111111111111111 0.1111111111111111 0.002"/>
            </geometry>
        </visual>
        <collision>
            <origin xyz="0 0 0" rpy="0 0 0"/>
            <geometry>
                <box size="0.1111111111111111 0.1111111111111111 0.002"/>
            </geometry>
        </collision>
    </link>
    <!-- Joint: body, body_face_top_2 -->
    <joint name="body_body_face_top_2_joint" type="fixed">
        <parent link="body"/>
        <child link="body_face_top_2"/>
        <origin xyz="0.2222222222222222 -0.1111111111111111 0.501"
                rpy="0 0 0"/>
        <axis xyz="0 0 1"/>
        
    </joint>


    <!-- body_face_top_3 -->
    <link name="body_face_top_3">
        <inertial>
            <origin xyz="0 0 0" rpy="0 0 0"/>
            <mass value="0"/>
            <inertia ixx=".1" ixy=".1" ixz=".1" iyy=".1" iyz=".1" izz=".1"/>
        </inertial>
        <visual>
            <origin xyz="0 0 0" rpy="0 0 0"/>
            <geometry>
                <box size="0.1111111111111111 0.1111111111111111 0.002"/>
            </geometry>
        </visual>
        <collision>
            <origin xyz="0 0 0" rpy="0 0 0"/>
            <geometry>
                <box size="0.1111111111111111 0.1111111111111111 0.002"/>
            </geometry>
        </collision>
    </link>
    <!-- Joint: body, body_face_top_3 -->
    <joint name="body_body_face_top_3_joint" type="fixed">
        <parent link="body"/>
        <child link="body_face_top_3"/>
        <origin xyz="-0.33333333333333337 0.0 0.501"
                rpy="0 0 0"/>
        <axis xyz="0 0 1"/>
        
    </joint>


    <!-- body_face_top_4 -->
    <link name="body_face_top_4">
        <inertial>
            <origin xyz="0 0 0" rpy="0 0 0"/>
            <mass value="0"/>
            <inertia ixx=".1" ixy=".1" ixz=".1" iyy=".1" iyz=".1" izz=".1"/>
        </inertial>
        <visual>
            <origin xyz="0 0 0" rpy="0 0 0"/>
            <geometry>
                <box size="0.1111111111111111 0.1111111111111111 0.002"/>
            </geometry>
        </visual>
        <collision>
            <origin xyz="0 0 0" rpy="0 0 0"/>
            <geometry>
                <box size="0.1111111111111111 0.1111111111111111 0.002"/>
            </geometry>
        </collision>
    </link>
    <!-- Joint: body, body_face_top_4 -->
    <joint name="body_body_face_top_4_joint" type="fixed">
        <parent link="body"/>
        <child link="body_face_top_4"/>
        <origin xyz="-0.2222222222222222 0.0 0.501"
                rpy="0 0 0"/>
        <axis xyz="0 0 1"/>
        
    </joint>


    <!-- body_face_top_5 -->
    <link name="body_face_top_5">
        <inertial>
            <origin xyz="0 0 0" rpy="0 0 0"/>
            <mass value="0"/>
            <inertia ixx=".1" ixy=".1" ixz=".1" iyy=".1" iyz=".1" izz=".1"/>
        </inertial>
        <visual>
            <origin xyz="0 0 0" rpy="0 0 0"/>
            <geometry>
                <box size="0.1111111111111111 0.1111111111111111 0.002"/>
            </geometry>
        </visual>
        <collision>
            <origin xyz="0 0 0" rpy="0 0 0"/>
            <geometry>
                <box size="0.1111111111111111 0.1111111111111111 0.002"/>
            </geometry>
        </collision>
    </link>
    <!-- Joint: body, body_face_top_5 -->
    <joint name="body_body_face_top_5_joint" type="fixed">
        <parent link="body"/>
        <child link="body_face_top_5"/>
        <origin xyz="-0.1111111111111111 0.0 0.501"
                rpy="0 0 0"/>
        <axis xyz="0 0 1"/>
        
    </joint>


    <!-- body_face_top_6 -->
    <link name="body_face_top_6">
        <inertial>
            <origin xyz="0 0 0" rpy="0 0 0"/>
            <mass value="0"/>
            <inertia ixx=".1" ixy=".1" ixz=".1" iyy=".1" iyz=".1" izz=".1"/>
        </inertial>
        <visual>
            <origin xyz="0 0 0" rpy="0 0 0"/>
            <geometry>
                <box size="0.1111111111111111 0.1111111111111111 0.002"/>
            </geometry>
        </visual>
        <collision>
            <origin xyz="0 0 0" rpy="0 0 0"/>
            <geometry>
                <box size="0.1111111111111111 0.1111111111111111 0.002"/>
            </geometry>
        </collision>
    </link>
    <!-- Joint: body, body_face_top_6 -->
    <joint name="body_body_face_top_6_joint" type="fixed">
        <parent link="body"/>
        <child link="body_face_top_6"/>
        <origin xyz="0.0 0.0 0.501"
                rpy="0 0 0"/>
        <axis xyz="0 0 1"/>
        
    </joint>


    <!-- body_face_top_7 -->
    <link name="body_face_top_7">
        <inertial>
            <origin xyz="0 0 0" rpy="0 0 0"/>
            <mass value="0"/>
            <inertia ixx=".1" ixy=".1" ixz=".1" iyy=".1" iyz=".1" izz=".1"/>
        </inertial>
        <visual>
            <origin xyz="0 0 0" rpy="0 0 0"/>
            <geometry>
                <box size="0.1111111111111111 0.1111111111111111 0.002"/>
            </geometry>
        </visual>
        <collision>
            <origin xyz="0 0 0" rpy="0 0 0"/>
            <geometry>
                <box size="0.1111111111111111 0.1111111111111111 0.002"/>
            </geometry>
        </collision>
    </link>
    <!-- Joint: body, body_face_top_7 -->
    <joint name="body_body_face_top_7_joint" type="fixed">
        <parent link="body"/>
        <child link="body_face_top_7"/>
        <origin xyz="0.11111111111111116 0.0 0.501"
                rpy="0 0 0"/>
        <axis xyz="0 0 1"/>
        
    </joint>


    <!-- body_face_top_8 -->
    <link name="body_face_top_8">
        <inertial>
            <origin xyz="0 0 0" rpy="0 0 0"/>
            <mass value="0"/>
            <inertia ixx=".1" ixy=".1" ixz=".1" iyy=".1" iyz=".1" izz=".1"/>
        </inertial>
        <visual>
            <origin xyz="0 0 0" rpy="0 0 0"/>
            <geometry>
                <box size="0.1111111111111111 0.1111111111111111 0.002"/>
            </geometry>
        </visual>
        <collision>
            <origin xyz="0 0 0" rpy="0 0 0"/>
            <geometry>
                <box size="0.1111111111111111 0.1111111111111111 0.002"/>
            </geometry>
        </collision>
    </link>
    <!-- Joint: body, body_face_top_8 -->
    <joint name="body_body_face_top_8_joint" type="fixed">
        <parent link="body"/>
        <child link="body_face_top_8"/>
        <origin xyz="0.2222222222222222 0.0 0.501"
                rpy="0 0 0"/>
        <axis xyz="0 0 1"/>
        
    </joint>


    <!-- body_face_top_9 -->
    <link name="body_face_top_9">
        <inertial>
            <origin xyz="0 0 0" rpy="0 0 0"/>
            <mass value="0"/>
            <inertia ixx=".1" ixy=".1" ixz=".1" iyy=".1" iyz=".1" izz=".1"/>
        </inertial>
        <visual>
            <origin xyz="0 0 0" rpy="0 0 0"/>
            <geometry>
                <box size="0.1111111111111111 0.1111111111111111 0.002"/>
            </geometry>
        </visual>
        <collision>
            <origin xyz="0 0 0" rpy="0 0 0"/>
            <geometry>
                <box size="0.1111111111111111 0.1111111111111111 0.002"/>
            </geometry>
        </collision>
    </link>
    <!-- Joint: body, body_face_top_9 -->
    <joint name="body_body_face_top_9_joint" type="fixed">
        <parent link="body"/>
        <child link="body_face_top_9"/>
        <origin xyz="0.33333333333333337 0.0 0.501"
                rpy="0 0 0"/>
        <axis xyz="0 0 1"/>
        
    </joint>


    <!-- body_face_top_10 -->
    <link name="body_face_top_10">
        <inertial>
            <origin xyz="0 0 0" rpy="0 0 0"/>
            <mass value="0"/>
            <inertia ixx=".1" ixy=".1" ixz=".1" iyy=".1" iyz=".1" izz=".1"/>
        </inertial>
        <visual>
            <origin xyz="0 0 0" rpy="0 0 0"/>
            <geometry>
                <box size="0.1111111111111111 0.1111111111111111 0.002"/>
            </geometry>
        </visual>
        <collision>
            <origin xyz="0 0 0" rpy="0 0 0"/>
            <geometry>
                <box size="0.1111111111111111 0.1111111111111111 0.002"/>
            </geometry>
        </collision>
    </link>
    <!-- Joint: body, body_face_top_10 -->
    <joint name="body_body_face_top_10_joint" type="fixed">
        <parent link="body"/>
        <child link="body_face_top_10"/>
        <origin xyz="0.11111111111111116 0.11111111111111116 0.501"
                rpy="0 0 0"/>
        <axis xyz="0 0 1"/>
        
    </joint>


    <!-- body_face_top_11 -->
    <link name="body_face_top_11">
        <inertial>
            <origin xyz="0 0 0" rpy="0 0 0"/>
            <mass value="0"/>
            <inertia ixx=".1" ixy=".1" ixz=".1" iyy=".1" iyz=".1" izz=".1"/>
        </inertial>
        <visual>
            <origin xyz="0 0 0" rpy="0 0 0"/>
            <geometry>
                <box size="0.1111111111111111 0.1111111111111111 0.002"/>
            </geometry>
        </visual>
        <collision>
            <origin xyz="0 0 0" rpy="0 0 0"/>
            <geometry>
                <box size="0.1111111111111111 0.1111111111111111 0.002"/>
            </geometry>
        </collision>
    </link>
    <!-- Joint: body, body_face_top_11 -->
    <joint name="body_body_face_top_11_joint" type="fixed">
        <parent link="body"/>
        <child link="body_face_top_11"/>
        <origin xyz="0.2222222222222222 0.11111111111111116 0.501"
                rpy="0 0 0"/>
        <axis xyz="0 0 1"/>
        
    </joint>


    <!-- body_face_top_12 -->
    <link name="body_face_top_12">
        <inertial>
            <origin xyz="0 0 0" rpy="0 0 0"/>
            <mass value="0"/>
            <inertia ixx=".1" ixy=".1" ixz=".1" iyy=".1" iyz=".1" izz=".1"/>
        </inertial>
        <visual>
            <origin xyz="0 0 0" rpy="0 0 0"/>
            <geometry>
                <box size="0.1111111111111111 0.1111111111111111 0.002"/>
            </geometry>
        </visual>
        <collision>
            <origin xyz="0 0 0" rpy="0 0 0"/>
            <geometry>
                <box size="0.1111111111111111 0.1111111111111111 0.002"/>
            </geometry>
        </collision>
    </link>
    <!-- Joint: body, body_face_top_12 -->
    <joint name="body_body_face_top_12_joint" type="fixed">
        <parent link="body"/>
        <child link="body_face_top_12"/>
        <origin xyz="0.11111111111111116 0.2222222222222222 0.501"
                rpy="0 0 0"/>
        <axis xyz="0 0 1"/>
        
    </joint>


</robot>
